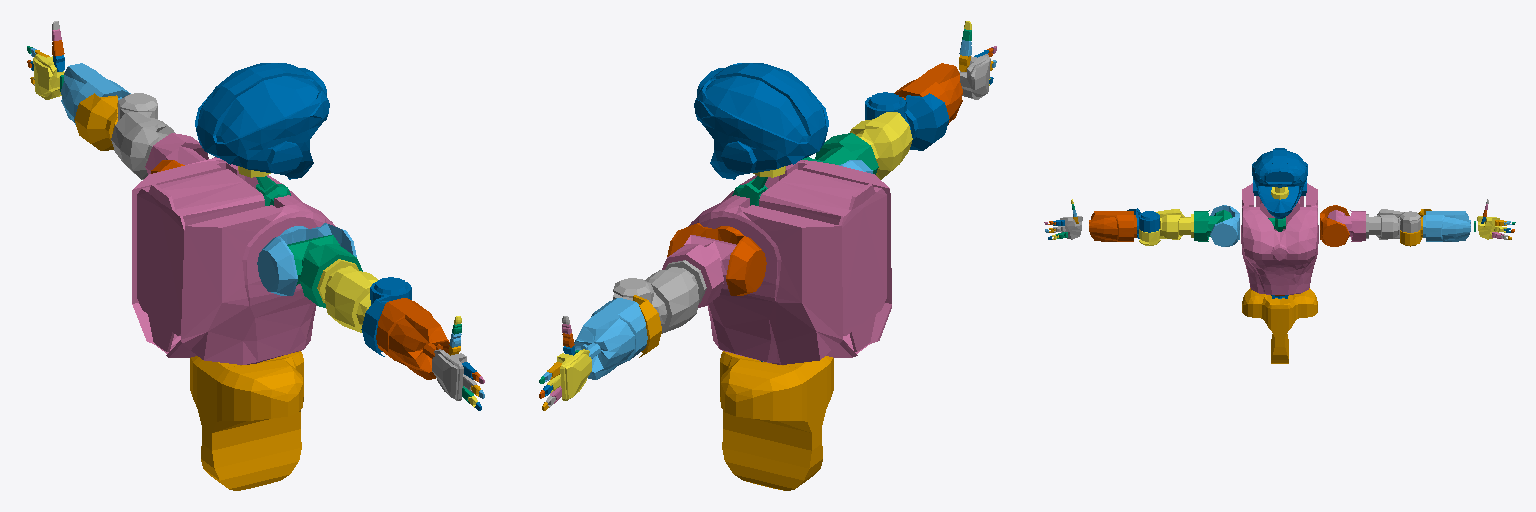
--- What the picture shows (computed from the rendered views, not written in the file) ---
The picture shows the robot from 3 angles, left to right: view 1: azimuth 30°, elevation 25°; view 2: azimuth 150°, elevation 25°; view 3: azimuth 270°, elevation 25°; orthographic projection.
Model valkyrie with 81 links and 80 joints (59 revolute, 21 fixed), rooted at pelvis, posed every joint at zero.
Links seen in each view (by area): view 1: torso, pelvis, upperNeckPitchLink, rightForearmLink, leftShoulderYawLink, rightShoulderYawLink, rightShoulderPitchLink, rightShoulderRollLink, leftElbowPitchLink, leftForearmLink, rightElbowPitchLink, leftShoulderRollLink (+3 smaller); view 2: torso, pelvis, upperNeckPitchLink, leftForearmLink, leftShoulderYawLink, leftShoulderPitchLink, rightElbowPitchLink, rightShoulderYawLink, leftShoulderRollLink, rightForearmLink, rightShoulderRollLink, leftPalm (+3 smaller); view 3: torso, upperNeckPitchLink, pelvis, leftForearmLink, rightForearmLink, leftShoulderYawLink, rightShoulderYawLink, rightShoulderPitchLink, leftShoulderPitchLink, rightShoulderRollLink, leftShoulderRollLink.
Link boxes in pixels (left/top/right/bottom): torso: left=132, top=160, right=335, bottom=364; pelvis: left=190, top=351, right=303, bottom=490; upperNeckPitchLink: left=195, top=63, right=329, bottom=179; rightForearmLink: left=376, top=298, right=449, bottom=379; leftShoulderYawLink: left=111, top=93, right=174, bottom=179; rightShoulderYawLink: left=317, top=259, right=377, bottom=332; rightShoulderPitchLink: left=257, top=223, right=356, bottom=295; rightShoulderRollLink: left=287, top=235, right=362, bottom=307; leftElbowPitchLink: left=74, top=93, right=117, bottom=150; leftForearmLink: left=61, top=63, right=130, bottom=124; rightElbowPitchLink: left=361, top=277, right=411, bottom=356; leftShoulderRollLink: left=145, top=133, right=221, bottom=174; torso: left=688, top=160, right=891, bottom=364; pelvis: left=720, top=351, right=833, bottom=490; upperNeckPitchLink: left=694, top=63, right=828, bottom=179; leftForearmLink: left=574, top=298, right=647, bottom=379; leftShoulderYawLink: left=613, top=260, right=706, bottom=333; leftShoulderPitchLink: left=667, top=223, right=766, bottom=295; rightElbowPitchLink: left=865, top=92, right=949, bottom=150; rightShoulderYawLink: left=850, top=112, right=912, bottom=179; leftShoulderRollLink: left=662, top=235, right=736, bottom=307; rightForearmLink: left=894, top=63, right=962, bottom=124; rightShoulderRollLink: left=802, top=133, right=878, bottom=174; leftPalm: left=557, top=349, right=591, bottom=400; torso: left=1241, top=183, right=1318, bottom=294; upperNeckPitchLink: left=1252, top=148, right=1307, bottom=218; pelvis: left=1242, top=288, right=1317, bottom=363; leftForearmLink: left=1423, top=211, right=1470, bottom=241; rightForearmLink: left=1089, top=211, right=1136, bottom=241; leftShoulderYawLink: left=1366, top=209, right=1420, bottom=239; rightShoulderYawLink: left=1139, top=209, right=1193, bottom=245; rightShoulderPitchLink: left=1210, top=205, right=1239, bottom=246; leftShoulderPitchLink: left=1320, top=205, right=1349, bottom=246; rightShoulderRollLink: left=1194, top=210, right=1232, bottom=241; leftShoulderRollLink: left=1327, top=210, right=1365, bottom=241.
Size in the robot's own frame: 0.4375 by 2.1 by 1.04 metres.
Meshes: 56 distinct files referenced, 47 mesh visuals loaded (47 Collada DAE); not drawn: 11 (reference not matched to a file when rendering).

robot.urdf — valkyrie:
<?xml version="1.0" ?>
<!-- =================================================================================== -->
<!-- |    This document was autogenerated by xacro from /kinematic_analysis/src/val_description/model/robots/valkyrie_B.urdf.xacro | -->
<!-- |    EDITING THIS FILE BY HAND IS NOT RECOMMENDED                                 | -->
<!-- =================================================================================== -->
<robot name="valkyrie">
  <!--roll-->
  <!-- Setting the property for the left and right forearm -->
  <!-- <xacro:property name="leftArmJ5SerialNumber" value="v_g_016" />
        <xacro:property name="leftForearmSerialNumber" value="v_h_005"/> -->
  <!-- <xacro:property name="rightArmJ5SerialNumber" value="v_g_012" />
        <xacro:property name="rightForearmSerialNumber" value="v_h_006"/> -->
  <link name="pelvis">
    <inertial>
      <mass value="8.22"/>
      <origin rpy="0 0 0" xyz="-0.00532 -0.003512 -0.0036"/>
      <inertia ixx="0.11866378" ixy="-0.000143482" ixz="0.003271293" iyy="0.097963425" iyz="0.002159545" izz="0.083854638"/>
    </inertial>
    <visual>
      <geometry>
        <mesh filename="package://val_description/model/meshes/pelvis/pelvis.dae"/>
      </geometry>
      <origin rpy="0.0 0.0 0.0" xyz="0.0 0.0 0.0"/>
    </visual>
    <collision>
      <geometry>
        <mesh filename="package://val_description/model/meshes/pelvis/pelvis.dae"/>
      </geometry>
      <origin rpy="0 0 0" xyz="0 0 0"/>
    </collision>
  </link>
  <link name="pelvisRearImu_Frame">
    <!-- Virtual Link -->
    <inertial>
      <mass value="1e-07"/>
      <origin rpy="0 0 0" xyz="0 0 0"/>
      <inertia ixx="3.3333333333333322e-22" ixy="0.0" ixz="0.0" iyy="3.3333333333333322e-22" iyz="0.0" izz="4.999999999999999e-22"/>
    </inertial>
  </link>
  <joint name="pelvisRearImu_Offset" type="fixed">
    <origin rpy="-3.14159 0.476467 -3.14159" xyz="-0.075844901 0.0 -0.111056426"/>
    <axis xyz="0 0 1"/>
    <parent link="pelvis"/>
    <child link="pelvisRearImu_Frame"/>
  </joint>
  <gazebo reference="pelvisRearImu_Offset">
    <implicitSpringDamper>1</implicitSpringDamper>
  </gazebo>
  <gazebo>
    <plugin filename="libgazebo_ros_imu.so" name="imu_plugin_ros">
      <alwaysOn>true</alwaysOn>
      <bodyName>pelvisRearImu_Frame</bodyName>
      <topicName>pelvisRearImu/imu</topicName>
      <serviceName>pelvisRearImu/imu_service</serviceName>
      <gaussianNoise>0.0</gaussianNoise>
      <updateRate>1000.0</updateRate>
    </plugin>
  </gazebo>
  <gazebo reference="pelvisRearImu_Frame">
    <sensor name="pelvisRearImu" type="imu">
      <imuTransform>-0.075844901 0.0 -0.111056426 -3.14159 0.476467 -3.14159</imuTransform>
      <always_on>true</always_on>
      <pose>0 0 0 0 0 0 </pose>
      <node name="/sensors/rearPelvisIMU"/>
      <api name="imu_3dm_gx4_15_sensor::Imu3DmGx415Sensor"/>
      <port name="/dev/ttyS4"/>
      <imu>
        <noise>
          <type>gaussian</type>
          <rate>
            <mean>0</mean>
            <stddev>0.0002</stddev>
            <bias_mean>7.5e-06</bias_mean>
            <bias_stddev>8e-07</bias_stddev>
          </rate>
          <accel>
            <mean>0</mean>
            <stddev>0.017</stddev>
            <bias_mean>0.1</bias_mean>
            <bias_stddev>0.001</bias_stddev>
          </accel>
        </noise>
      </imu>
    </sensor>
  </gazebo>
  <link name="pelvisMiddleImu_Frame">
    <!-- Virtual Link -->
    <inertial>
      <mass value="1e-07"/>
      <origin rpy="0 0 0" xyz="0 0 0"/>
      <inertia ixx="3.3333333333333322e-22" ixy="0.0" ixz="0.0" iyy="3.3333333333333322e-22" iyz="0.0" izz="4.999999999999999e-22"/>
    </inertial>
  </link>
  <joint name="pelvisMiddleImu_Offset" type="fixed">
    <origin rpy="3.14159 0.0 0.0" xyz="0.0 0.0 -0.10819638"/>
    <axis xyz="0 0 1"/>
    <parent link="pelvis"/>
    <child link="pelvisMiddleImu_Frame"/>
  </joint>
  <gazebo reference="pelvisMiddleImu_Offset">
    <implicitSpringDamper>1</implicitSpringDamper>
  </gazebo>
  <gazebo>
    <plugin filename="libgazebo_ros_imu.so" name="imu_plugin_ros">
      <alwaysOn>true</alwaysOn>
      <bodyName>pelvisMiddleImu_Frame</bodyName>
      <topicName>pelvisMiddleImu/imu</topicName>
      <serviceName>pelvisMiddleImu/imu_service</serviceName>
      <gaussianNoise>0.0</gaussianNoise>
      <updateRate>500.0</updateRate>
    </plugin>
  </gazebo>
  <gazebo reference="pelvisMiddleImu_Frame">
    <sensor name="pelvisMiddleImu" type="imu">
      <imuTransform>0.0 0.0 -0.10819638 3.14159 0.0 0.0</imuTransform>
      <always_on>true</always_on>
      <pose>0 0 0 0 0 0 </pose>
      <imu>
        <noise>
          <type>gaussian</type>
          <rate>
            <mean>0</mean>
            <stddev>0.0002</stddev>
            <bias_mean>7.5e-06</bias_mean>
            <bias_stddev>8e-07</bias_stddev>
          </rate>
          <accel>
            <mean>0</mean>
            <stddev>0.017</stddev>
            <bias_mean>0.1</bias_mean>
            <bias_stddev>0.001</bias_stddev>
          </accel>
        </noise>
      </imu>
    </sensor>
  </gazebo>
  <link name="zedm_mount">
    <!-- Virtual Link -->
    <inertial>
      <mass value="1e-07"/>
      <origin rpy="0 0 0" xyz="0 0 0"/>
      <inertia ixx="3.3333333333333322e-22" ixy="0.0" ixz="0.0" iyy="3.3333333333333322e-22" iyz="0.0" izz="4.999999999999999e-22"/>
    </inertial>
  </link>
  <joint name="zedm_head_root_joint" type="fixed">
    <origin rpy="0.0 0.1309 0.0" xyz="0.192184 0.0 -0.096498"/>
    <axis xyz="0 0 1"/>
    <parent link="upperNeckPitchLink"/>
    <child link="zedm_mount"/>
  </joint>
  <gazebo reference="zedm_head_root_joint">
    <implicitSpringDamper>1</implicitSpringDamper>
  </gazebo>
  <link name="torsoYawLink">
    <inertial>
      <mass value="0.5"/>
      <origin rpy="0 0 0" xyz="0.000000 0.000000 -0.010000"/>
      <inertia ixx="0.000608427" ixy="-1.172e-06" ixz="1.647e-06" iyy="0.000620328" iyz="-2.33e-07" izz="0.001078108"/>
    </inertial>
    <visual>
      <geometry>
        <mesh filename="package://val_description/model/meshes/torso/torsoyaw.dae"/>
      </geometry>
      <origin rpy="0.0 0.0 0.0" xyz="0.0 0.0 0.0"/>
    </visual>
    <collision>
      <geometry>
        <mesh filename="package://val_description/model/meshes/torso/torsoyaw.dae"/>
      </geometry>
      <origin rpy="0 0 0" xyz="0 0 0"/>
    </collision>
  </link>
  <link name="torsoPitchLink">
    <inertial>
      <mass value="0.1"/>
      <origin rpy="0 0 0" xyz="0.000000 0.000000  0.005000"/>
      <inertia ixx="3.032e-05" ixy="0.0" ixz="-1.145e-06" iyy="2.1274e-05" iyz="0.0" izz="2.8285e-05"/>
    </inertial>
    <visual>
      <geometry>
        <mesh filename="package://val_description/model/meshes/torso/torsopitch.dae"/>
      </geometry>
      <origin rpy="0.0 0.0 0.0" xyz="0.0 0.0 0.0"/>
    </visual>
    <collision>
      <geometry>
        <mesh filename="package://val_description/model/meshes/torso/torsopitch.dae"/>
      </geometry>
      <origin rpy="0 0 0" xyz="0 0 0"/>
    </collision>
  </link>
  <link name="torso">
    <inertial>
      <mass value="30.87"/>
      <origin rpy="0 0 0" xyz="-0.095548 -0.003337 0.243098"/>
      <inertia ixx="0.858969" ixy="9.9563e-05" ixz="0.061345211" iyy="0.99655" iyz="0.00181849" izz="0.764098"/>
    </inertial>
    <visual>
      <geometry>
        <mesh filename="package://val_description/model/meshes/torso/torso.dae"/>
      </geometry>
      <origin rpy="0.0 0.0 0.0" xyz="0.0 0.0 0.0"/>
    </visual>
    <collision>
      <geometry>
        <mesh filename="package://val_description/model/meshes/torso/torso.dae"/>
      </geometry>
      <origin rpy="0 0 0" xyz="0 0 0"/>
    </collision>
  </link>
  <joint name="torsoYaw" type="revolute">
    <origin rpy="0.0 0.0 0.0" xyz="0.0 0.0 0.0"/>
    <axis xyz="0 0 1"/>
    <parent link="pelvis"/>
    <child link="torsoYawLink"/>
    <limit effort="190" lower="-1.329" upper="1.181" velocity="5.89"/>
    <controller_gains Kd="0.0" Ki="0.0" Kp="0.0"/>
    <dynamics damping="0.1" friction="0.0"/>
  </joint>
  <gazebo reference="torsoYaw">
    <provideFeedback>1</provideFeedback>
    <implicitSpringDamper>1</implicitSpringDamper>
  </gazebo>
  <joint name="torsoPitch" type="revolute">
    <origin rpy="0.0 0.0 0.0" xyz="0.04191 0.0 0.0"/>
    <axis xyz="0 1 0"/>
    <parent link="torsoYawLink"/>
    <child link="torsoPitchLink"/>
    <limit effort="150" lower="-0.13" upper="0.666" velocity="9"/>
    <controller_gains Kd="0.0" Ki="0.0" Kp="0.0"/>
    <dynamics damping="0.1" friction="0.0"/>
  </joint>
  <gazebo reference="torsoPitch">
    <provideFeedback>1</provideFeedback>
    <implicitSpringDamper>1</implicitSpringDamper>
  </gazebo>
  <joint name="torsoRoll" type="revolute">
    <origin rpy="0.0 0.0 0.0" xyz="0.0 0.0 0.0203"/>
    <axis xyz="1 0 0"/>
    <parent link="torsoPitchLink"/>
    <child link="torso"/>
    <limit effort="150" lower="-0.23" upper="0.255" velocity="9"/>
    <controller_gains Kd="0.0" Ki="0.0" Kp="0.0"/>
    <dynamics damping="0.1" friction="0.0"/>
  </joint>
  <gazebo reference="torsoRoll">
    <provideFeedback>1</provideFeedback>
    <implicitSpringDamper>1</implicitSpringDamper>
  </gazebo>
  <transmission name="torsoYawTransmission">
    <type>transmission_interface/SimpleTransmission</type>
    <joint name="torsoYaw">
      <hardwareInterface>EffortJointInterface</hardwareInterface>
    </joint>
    <actuator name="torsoYaw">
      <node name="/pelvis/waist"/>
      <mechanicalReduction>1</mechanicalReduction>
      <api name="robot_hardware_interface/TurbodriverAPI"/>
    </actuator>
  </transmission>
  <transmission name="waistTransmission">
    <type>robot_transmission_interface::TorsoPushrodTransmissionLoader</type>
    <joint name="torsoPitch">
      <role>pitch</role>
      <hardwareInterface>EffortJointInterface</hardwareInterface>
    </joint>
    <joint name="torsoRoll">
      <role>roll</role>
      <hardwareInterface>EffortJointInterface</hardwareInterface>
    </joint>
    <actuator name="waistRightActuator">
      <node name="/trunk/right_actuator"/>
      <role>right</role>
      <mechanicalReduction>1</mechanicalReduction>
      <api name="robot_hardware_interface/TurbodriverAPI_linear_Renishaw"/>
    </actuator>
    <actuator name="waistLeftActuator">
      <node name="/trunk/left_actuator"/>
      <role>left</role>
      <mechanicalReduction>1</mechanicalReduction>
      <api name="robot_hardware_interface/TurbodriverAPI_linear_Renishaw"/>
    </actuator>
  </transmission>
  <link name="leftTorsoImu_Frame">
    <!-- Virtual Link -->
    <inertial>
      <mass value="1e-07"/>
      <origin rpy="0 0 0" xyz="0 0 0"/>
      <inertia ixx="3.3333333333333322e-22" ixy="0.0" ixz="0.0" iyy="3.3333333333333322e-22" iyz="0.0" izz="4.999999999999999e-22"/>
    </inertial>
  </link>
  <joint name="leftTorsoImu_Offset" type="fixed">
    <origin rpy="-1.5707 0.0 0.0" xyz="-0.0627634 0.134239 0.3630676"/>
    <axis xyz="0 0 1"/>
    <parent link="torso"/>
    <child link="leftTorsoImu_Frame"/>
  </joint>
  <gazebo reference="leftTorsoImu_Offset">
    <implicitSpringDamper>1</implicitSpringDamper>
  </gazebo>
  <gazebo>
    <plugin filename="libgazebo_ros_imu.so" name="imu_plugin_ros">
      <alwaysOn>true</alwaysOn>
      <bodyName>leftTorsoImu_Frame</bodyName>
      <topicName>leftTorsoImu/imu</topicName>
      <serviceName>leftTorsoImu/imu_service</serviceName>
      <gaussianNoise>0.0</gaussianNoise>
      <updateRate>1000.0</updateRate>
    </plugin>
  </gazebo>
  <gazebo reference="leftTorsoImu_Frame">
    <sensor name="leftTorsoImu" type="imu">
      <imuTransform>-0.0627634 0.134239 0.3630676 -1.5707 0.0 0.0</imuTransform>
      <always_on>true</always_on>
      <pose>0 0 0 0 0 0 </pose>
      <node name="/sensors/leftTorsoIMU"/>
      <api name="imu_3dm_gx4_15_sensor::Imu3DmGx415Sensor"/>
      <port name="/dev/ttyS5"/>
      <imu>
        <noise>
          <type>gaussian</type>
          <rate>
            <mean>0</mean>
            <stddev>0.0002</stddev>
            <bias_mean>7.5e-06</bias_mean>
            <bias_stddev>8e-07</bias_stddev>
          </rate>
          <accel>
            <mean>0</mean>
            <stddev>0.017</stddev>
            <bias_mean>0.1</bias_mean>
            <bias_stddev>0.001</bias_stddev>
          </accel>
        </noise>
      </imu>
    </sensor>
  </gazebo>
  <link name="rightHazardCamera_Frame">
    <!-- Virtual Link -->
    <inertial>
      <mass value="1e-07"/>
      <origin rpy="0 0 0" xyz="0 0 0"/>
      <inertia ixx="3.3333333333333322e-22" ixy="0.0" ixz="0.0" iyy="3.3333333333333322e-22" iyz="0.0" izz="4.999999999999999e-22"/>
    </inertial>
  </link>
  <gazebo reference="rightHazardCamera_Frame">
    <sensor name="rightHazardCamera" type="camera">
      <camera>
        <image>
          <width>1280</width>
          <height>1024</height>
          <format>R8G8B8</format>
        </image>
        <horizontal_fov>1.378</horizontal_fov>
        <clip>
          <near>0.1</near>
          <far>100</far>
        </clip>
      </camera>
      <update_rate>60</update_rate>
    </sensor>
  </gazebo>
  <joint name="rightHazardCamera_Offset" type="fixed">
    <origin rpy="1.57 0.0 1.57" xyz="0.0345 -0.0406 0.1135"/>
    <axis xyz="0 0 1"/>
    <parent link="torso"/>
    <child link="rightHazardCamera_Frame"/>
  </joint>
  <gazebo reference="rightHazardCamera_Offset">
    <implicitSpringDamper>1</implicitSpringDamper>
  </gazebo>
  <link name="leftHazardCamera_Frame">
    <!-- Virtual Link -->
    <inertial>
      <mass value="1e-07"/>
      <origin rpy="0 0 0" xyz="0 0 0"/>
      <inertia ixx="3.3333333333333322e-22" ixy="0.0" ixz="0.0" iyy="3.3333333333333322e-22" iyz="0.0" izz="4.999999999999999e-22"/>
    </inertial>
  </link>
  <gazebo reference="leftHazardCamera_Frame">
    <sensor name="leftHazardCamera" type="camera">
      <camera>
        <image>
          <width>1280</width>
          <height>1024</height>
          <format>R8G8B8</format>
        </image>
        <horizontal_fov>1.378</horizontal_fov>
        <clip>
          <near>0.1</near>
          <far>100</far>
        </clip>
      </camera>
      <update_rate>60</update_rate>
    </sensor>
  </gazebo>
  <joint name="leftHazardCamera_Offset" type="fixed">
    <origin rpy="1.57 0.0 1.57" xyz="0.0345 0.0406 0.1135"/>
    <axis xyz="0 0 1"/>
    <parent link="torso"/>
    <child link="leftHazardCamera_Frame"/>
  </joint>
  <gazebo reference="leftHazardCamera_Offset">
    <implicitSpringDamper>1</implicitSpringDamper>
  </gazebo>
  <link name="lowerNeckPitchLink">
    <inertial>
      <mass value="1.05"/>
      <origin rpy="0 0 0" xyz="-0.020000 0.000000  0.040000"/>
      <inertia ixx="0.001470716" ixy="-0.000126021" ixz="0.000632521" iyy="0.001851919" iyz="0.000243012" izz="0.000832117"/>
    </inertial>
    <visual>
      <geometry>
        <mesh filename="package://val_description/model/meshes/head/neckj1.dae"/>
      </geometry>
      <origin rpy="0.0 0.0 0.0" xyz="0.0 0.0 0.0"/>
    </visual>
    <collision>
      <geometry>
        <mesh filename="package://val_description/model/meshes/head/neckj1.dae"/>
      </geometry>
      <origin rpy="0 0 0" xyz="0 0 0"/>
    </collision>
  </link>
  <link name="neckYawLink">
    <inertial>
      <mass value="1.4"/>
      <origin rpy="0 0 0" xyz="-0.030000  -0.010000 0.150000"/>
      <inertia ixx="0.001997698" ixy="-0.000180062" ixz="0.000723677" iyy="0.002919928" iyz="0.000246467" izz="0.002119751"/>
    </inertial>
    <visual>
      <geometry>
        <mesh filename="package://val_description/model/meshes/head/neckj2.dae"/>
      </geometry>
      <origin rpy="0.0 0.0 0.0" xyz="0.0 0.0 0.0"/>
    </visual>
    <collision>
      <geometry>
        <mesh filename="package://val_description/model/meshes/head/neckj2.dae"/>
      </geometry>
      <origin rpy="0 0 0" xyz="0 0 0"/>
    </collision>
  </link>
  <link name="upperNeckPitchLink">
    <inertial>
      <mass value="3.89"/>
      <origin rpy="0 0 0" xyz="0.100912 0.005783 0.034787"/>
      <inertia ixx="0.039847525" ixy="-0.000470418" ixz="-0.002829842" iyy="0.041418564" iyz="-0.000782564" izz="0.036841236"/>
    </inertial>
    <visual>
      <geometry>
        <mesh filename="package://val_description/model/meshes/head/head_multisense_no_visor.dae"/>
      </geometry>
      <origin rpy="0.0 0.0 0.0" xyz="0.0 0.0 0.0"/>
    </visual>
    <collision>
      <geometry>
        <mesh filename="package://val_description/model/meshes/head/head_multisense_no_visor.dae"/>
      </geometry>
      <origin rpy="0 0 0" xyz="0 0 0"/>
    </collision>
  </link>
  <joint name="lowerNeckPitch" type="revolute">
    <origin rpy="0.0 0.0 0.0" xyz="0.0203518 0.0 0.33845"/>
    <axis xyz="0 1 0"/>
    <parent link="torso"/>
    <child link="lowerNeckPitchLink"/>
    <limit effort="26" lower="0" upper="1.162" velocity="5"/>
    <controller_gains Kd="3" Ki="3" Kp="50"/>
    <dynamics damping="0.1" friction="0.0"/>
  </joint>
  <gazebo reference="lowerNeckPitch">
    <provideFeedback>1</provideFeedback>
    <implicitSpringDamper>1</implicitSpringDamper>
  </gazebo>
  <joint name="neckYaw" type="revolute">
    <origin rpy="0.0 0.0 0.0" xyz="-0.051924 0.0 0.0"/>
    <axis xyz="0 0 1"/>
    <parent link="lowerNeckPitchLink"/>
    <child link="neckYawLink"/>
    <limit effort="26" lower="-1.04719755" upper="1.04719755" velocity="5"/>
    <controller_gains Kd="3" Ki="0.0" Kp="50"/>
    <dynamics damping="0.1" friction="0.0"/>
  </joint>
  <gazebo reference="neckYaw">
    <provideFeedback>1</provideFeedback>
    <implicitSpringDamper>1</implicitSpringDamper>
  </gazebo>
  <joint name="upperNeckPitch" type="revolute">
    <origin rpy="0.0 0.0 0.0" xyz="-0.06 0 0.195997"/>
    <axis xyz="0 1 0"/>
    <parent link="neckYawLink"/>
    <child link="upperNeckPitchLink"/>
    <limit effort="26" lower="-0.872" upper="0.0" velocity="5"/>
    <controller_gains Kd="3" Ki="0.0" Kp="50"/>
    <dynamics damping="0.1" friction="0.0"/>
  </joint>
  <gazebo reference="upperNeckPitch">
    <provideFeedback>1</provideFeedback>
    <implicitSpringDamper>1</implicitSpringDamper>
  </gazebo>
    <!-- Head Link Simple Collision Meshes -->
  <link name="multisense/head">
    <inertial>
      <origin xyz="-0.075493 3.3383E-05 0.02774" rpy="0 0 0" />
      <mass value="1.41984" />
      <inertia iyy="0.0041178" ixy="-1.5797E-06" iyz="-6.8415E-07" ixx="0.0039688" ixz="-0.00089293" izz="0.0035243" />
    </inertial>
<!--     <visual>
      <origin xyz="0 0 0" rpy="0 0 0" />
      <geometry>
        <mesh filename="package://val_description/model/meshes/multisense/head.dae" />
      </geometry>
    </visual> -->
  <collision>
    <origin xyz="-0.0503 0 -0.00195" rpy="0 0 0" />
    <geometry>
      <box size="0.1311 0.12 0.0591"/>
    </geometry>
  </collision>
  <collision>
    <origin xyz="-0.093 0 0.0868" rpy="0 0 0" />
    <geometry>
      <box size="0.0468 0.12 0.1184"/>
    </geometry>
  </collision>
  </link>
  <link name="hokuyo_link">
    <inertial>
      <origin xyz="0.032428 0.0004084 -0.0041835" rpy="0 0 0" />
      <mass value="0.057654" />
      <inertia iyy="4.2412E-05" ixy="4.9927E-08" iyz="-9.8165E-09" ixx="3.7174E-05" ixz="1.1015E-05" izz="4.167E-05" />
    </inertial>
    <visual>
      <!--origin xyz="0.065774 -0.001163 -0.08809" rpy="0 0 0" /-->
      <!--origin xyz="0.045 -0.001163 -0.08809" rpy="-0.314 0 0" /-->
      <origin xyz="0.045 -0.0261018277 -0.08342369" rpy="-0.314 0 0" />
      <geometry>
        <mesh filename="package://val_description/model/meshes/multisense/head_camera.dae" />
      </geometry>
    </visual>
  <collision>
    <origin xyz="0.01885 0 -0.02119" rpy="0 0 0" />
    <geometry>
      <box size="0.08 0.06 0.04238"/>
    </geometry>
  </collision>
  <collision>
    <origin xyz="0.03 0 0.0235" rpy="0 0 0" />
    <geometry>
      <cylinder radius="0.024425" length="0.047"/>
    </geometry>
  </collision>
  </link>
  <gazebo reference="multisense/head">
    <mu1>0.9</mu1>
    <mu2>0.9</mu2>
  </gazebo>
  <gazebo reference="hokuyo_link">
    <mu1>0.9</mu1>
    <mu2>0.9</mu2>
  </gazebo>

  <joint name="hokuyo_joint" type="revolute">
    <origin xyz="-0.0446 0 0.0880" rpy="0 0 0" />
    <parent link="multisense/head" />
    <child link="hokuyo_link" />
    <axis xyz="1 0 0" />
    <dynamics damping="0.01" friction="0"/>
    <limit lower="-1e+16" upper="1e+16"/>
  </joint>
  <gazebo reference="hokuyo_joint">
    <implicitSpringDamper>1</implicitSpringDamper>
  </gazebo>

  <!-- Hokuyo Laser -->
  <joint name="head_hokuyo_joint" type="fixed">
    <axis xyz="0 1 0" />
    <origin xyz="0.03 0 0.015" rpy="0 0 0"/>
    <parent link="hokuyo_link"/>
    <child link="head_hokuyo_frame"/>
  </joint>
  <link name="head_hokuyo_frame">
    <inertial>
      <mass value="1e-5" />
      <!-- collocate with parent link and remove mass from it -->
      <origin xyz="0.042428 0.0004084 0.0108165" rpy="0 0 0"/>
      <inertia ixx="1e-6" ixy="0" ixz="0" iyy="1e-6" iyz="0" izz="1e-6" />
    </inertial>
  </link>
  <gazebo reference="head_hokuyo_frame">
    <sensor type="gpu_ray" name="head_hokuyo_sensor">
      <pose>0 0 0 0 0 0</pose>
      <visualize>false</visualize>
      <update_rate>40</update_rate>
      <ray>
        <scan>
          <horizontal>
            <samples>1081</samples>
            <resolution>1</resolution>
            <min_angle>-2.356194</min_angle>
            <max_angle>2.356194</max_angle>
          </horizontal>
        </scan>
        <range>
          <min>0.10</min>
          <max>30.0</max>
          <resolution>0.01</resolution>
        </range>
        <noise>
          <type>gaussian</type>
          <!-- Noise parameters based on published spec for Hokuyo laser
               achieving "+-30mm" accuracy at range < 10m.  A mean of 0.0m and
               stddev of 0.01m will put 99.7% of samples within 0.03m of the true
               reading. -->
          <mean>0.0</mean>
          <stddev>0.01</stddev>
        </noise>
      </ray>
    </sensor>
  </gazebo>
  <!-- Stereo Camera -->
  <joint name="left_camera_frame_joint" type="fixed">
    <!-- optical frame collocated with tilting DOF -->
    <origin xyz="0.0 0.035 -0.002"/>
    <parent link="multisense/head"/>
    <child link="left_camera_frame"/>
  </joint>
  <link name="left_camera_frame">
    <inertial>
      <mass value="1e-5" />
      <!-- collocate with parent link and remove mass from it -->
      <origin xyz="-0.075493 0.035033383 0.02574"/>
      <inertia ixx="1e-6" ixy="0" ixz="0" iyy="1e-6" iyz="0" izz="1e-6" />
    </inertial>
  </link>
  <joint name="left_camera_optical_frame_joint" type="fixed">
    <origin xyz="0 0 0" rpy="-1.5708 0.0 -1.5708" />
    <parent link="left_camera_frame" />
    <child link="left_camera_optical_frame"/>
  </joint>
  <link name="left_camera_optical_frame"/>
  <gazebo reference="left_camera_frame">
    <sensor type="multicamera" name="stereo_camera">
      <!-- see MultiSenseSLPlugin.h for available modes -->
      <update_rate>10.0</update_rate>
      <camera name="left">
        <!-- Spec sheet says 80deg X 45deg @ 1024x544pix.  Based on feedback
             from teams, we're instead doing 80deg X 80deg @ 800x800pix. -->
        <horizontal_fov>1.3962634</horizontal_fov>
        <image>
          <width>1024</width>
          <height>544</height>
          <format>R8G8B8</format>
        </image>
        <clip>
          <near>0.02</near>
          <far>300</far>
        </clip>
        <noise>
          <type>gaussian</type>
          <!-- Noise is sampled independently per pixel on each frame.  
               That pixel's noise value is added to each of its color
               channels, which at that point lie in the range [0,1].
               The stddev value of 0.007 is based on experimental data 
               from a camera in a Sandia hand pointed at a static scene
               in a couple of different lighting conditions.  -->
          <mean>0.0</mean>
          <stddev>0.007</stddev>
        </noise>
      </camera>
      <camera name="right">
        <pose>0 -0.07 0 0 0 0</pose>
        <!-- Spec sheet says 80deg X 45deg @ 1024x544pix. -->
        <horizontal_fov>1.3962634</horizontal_fov>
        <image>
          <width>1024</width>
          <height>544</height>
          <format>R8G8B8</format>
        </image>
        <clip>
          <near>0.02</near>
          <far>300</far>
        </clip>
        <noise>
          <type>gaussian</type>
          <!-- Noise is sampled independently per pixel on each frame.  
               That pixel's noise value is added to each of its color
               channels, which at that point lie in the range [0,1].
               The stddev value of 0.007 is based on experimental data 
               from a camera in a Sandia hand pointed at a static scene
               in a couple of different lighting conditions.  -->
          <mean>0.0</mean>
          <stddev>0.007</stddev>
        </noise>
      </camera>
    </sensor>
  </gazebo>


  <joint name="right_camera_frame_joint" type="fixed">
    <origin xyz="0.0 -0.035 -0.002"/>
    <parent link="multisense/head"/>
    <child link="right_camera_frame"/>
  </joint>
  <link name="right_camera_frame">
    <inertial>
      <mass value="1e-5" />
      <!-- collocate with parent link and remove mass from it -->
      <origin xyz="-0.075493 -0.034966617 0.02574"/>
      <inertia ixx="1e-6" ixy="0" ixz="0" iyy="1e-6" iyz="0" izz="1e-6" />
    </inertial>
  </link>
  <joint name="right_camera_optical_frame_joint" type="fixed">
    <origin xyz="0 0 0" rpy="-1.5708 0.0 -1.5708" />
    <parent link="right_camera_frame" />
    <child link="right_camera_optical_frame"/>
  </joint>
  <link name="right_camera_optical_frame"/>

  <joint name="center_top_led_frame_joint" type="fixed">
    <origin xyz="0.01125 0.0 0.0105"/>
    <parent link="multisense/head"/>
    <child link="center_top_led_frame"/>
  </joint>
  <link name="center_top_led_frame">
    <inertial>
      <mass value="1e-5" />
      <!-- collocate with parent link and remove mass from it -->
      <origin xyz="-0.064243 0.000033383 0.03824" rpy="0 0 0" />
      <inertia ixx="1e-6" ixy="0" ixz="0" iyy="1e-6" iyz="0" izz="1e-6" />
    </inertial>
  </link>
  <joint name="center_bottom_led_frame_joint" type="fixed">
    <origin xyz="0.01125 0.0 -0.0155"/>
    <parent link="multisense/head"/>
    <child link="center_bottom_led_frame"/>
  </joint>
  <link name="center_bottom_led_frame">
    <inertial>
      <mass value="1e-5" />
      <!-- collocate with parent link and remove mass from it -->
      <origin xyz="-0.064243 0.000033383 0.01224" rpy="0 0 0" />
      <inertia ixx="1e-6" ixy="0" ixz="0" iyy="1e-6" iyz="0" izz="1e-6" />
    </inertial>
  </link>
  <joint name="left_led_frame_joint" type="fixed">
    <origin xyz="-0.01443 0.07452 0.050346" rpy="0 -0.15 0.53"/>
    <parent link="multisense/head"/>
    <child link="left_led_frame"/>
  </joint>
  <link name="left_led_frame">
    <inertial>
      <mass value="1e-5" />
      <!-- collocate with parent link and remove mass from it -->
      <origin xyz="-0.089923 0.074553383 0.078086" rpy="0 -0.15 0.53" />
      <inertia ixx="1e-6" ixy="0" ixz="0" iyy="1e-6" iyz="0" izz="1e-6" />
    </inertial>
  </link>
  <joint name="right_led_frame_joint" type="fixed">
    <origin xyz="-0.01443 -0.07452 0.050346" rpy="0 -0.15 -0.53"/>
    <parent link="multisense/head"/>
    <child link="right_led_frame"/>
  </joint>
  <link name="right_led_frame">
    <inertial>
      <mass value="1e-5" />
      <!-- collocate with parent link and remove mass from it -->
      <origin xyz="-0.089923 -0.074486617 0.07908" rpy="0 -0.15 -0.53" />
      <inertia ixx="1e-6" ixy="0" ixz="0" iyy="1e-6" iyz="0" izz="1e-6" />
    </inertial>
  </link>

  <!-- imu link -->
  <link name="head_imu_link">
    <inertial>
      <mass value="1e-5" />
      <!-- collocate with parent link and remove mass from it -->
      <origin xyz="-0.122993 0.035033383 0.02774" rpy="0 0 0" />
      <inertia ixx="1e-6" ixy="0" ixz="0" iyy="1e-6" iyz="0" izz="1e-6" />
    </inertial>
  </link>
  <joint name="head_imu_joint" type="fixed">
    <parent link="multisense/head"/>
    <child link="head_imu_link"/>
    <!-- putting it at the same z-level as the stereo -->
    <origin xyz="-0.0475 0.035 0.0" rpy="0 0 0"/>
  </joint>
  <gazebo reference="head_imu_link">
    <sensor name="head_imu_sensor" type="imu">
      <always_on>1</always_on>
      <update_rate>1000.0</update_rate>
      <imu>
        <noise>
          <type>gaussian</type>
          <rate>
            <mean>0.0</mean>
            <stddev>2e-4</stddev>
            <bias_mean>0.0000075</bias_mean>
            <bias_stddev>0.0000008</bias_stddev>
          </rate>
          <accel>
            <mean>0.0</mean>
            <stddev>1.7e-2</stddev>
            <bias_mean>0.1</bias_mean>
            <bias_stddev>0.001</bias_stddev>
          </accel>
        </noise>
      </imu>
    </sensor>
  </gazebo>
  <joint name="multisense_head_root_joint" type="fixed">
    <origin rpy="-3.14159 0.130899694 0.0" xyz="0.183585961 0.0 0.075353826"/>
    <axis xyz="0 0 1"/>
    <parent link="upperNeckPitchLink"/>
    <child link="multisense/head"/>
  </joint>
  <gazebo reference="multisense_head_root_joint">
    <implicitSpringDamper>1</implicitSpringDamper>
  </gazebo>
  <transmission name="lowerNeckPitchTransmission">
    <type>transmission_interface/SimpleTransmission</type>
    <joint name="lowerNeckPitch">
      <hardwareInterface>PositionJointInterface</hardwareInterface>
    </joint>
    <actuator name="lowerNeckPitch">
      <node name="/neck/j1"/>
      <mechanicalReduction>1</mechanicalReduction>
      <api name="robot_hardware_interface/TurbodriverAPI"/>
    </actuator>
  </transmission>
  <transmission name="neckYawTransmission">
    <type>transmission_interface/SimpleTransmission</type>
    <joint name="neckYaw">
      <hardwareInterface>PositionJointInterface</hardwareInterface>
    </joint>
    <actuator name="neckYaw">
      <node name="/neck/j2"/>
      <mechanicalReduction>1</mechanicalReduction>
      <api name="robot_hardware_interface/TurbodriverAPI"/>
    </actuator>
  </transmission>
  <transmission name="upperNeckPitchTransmission">
    <type>transmission_interface/SimpleTransmission</type>
    <joint name="upperNeckPitch">
      <hardwareInterface>PositionJointInterface</hardwareInterface>
    </joint>
    <actuator name="upperNeckPitch">
      <node name="/neck/j3"/>
      <mechanicalReduction>1</mechanicalReduction>
      <api name="robot_hardware_interface/TurbodriverAPI"/>
    </actuator>
  </transmission>
  <link name="rightHipYawLink">
    <inertial>
      <mass value="2.39"/>
      <origin rpy="0 0 0" xyz="0.02176 0.00131 0.03867"/>
      <inertia ixx="0.017260978" ixy="0.0" ixz="0.0" iyy="0.014866198" iyz="0.0" izz="0.011238178"/>
    </inertial>
    <visual>
      <geometry>
        <mesh filename="package://val_description/model/meshes/legs/lj1_right.dae"/>
      </geometry>
      <origin rpy="0.0 0.0 0.0" xyz="0.0 0.0 0.0"/>
    </visual>
    <collision>
      <geometry>
        <mesh filename="package://val_description/model/meshes/legs/lj1_right.dae"/>
      </geometry>
      <origin rpy="0 0 0" xyz="0 0 0"/>
    </collision>
  </link>
  <link name="rightHipRollLink">
    <inertial>
      <mass value="3.665"/>
      <origin rpy="0 0 0" xyz="0.012959 -0.00755 -0.015950"/>
      <inertia ixx="0.005978962" ixy="0.000234823" ixz="0.000553962" iyy="0.009372646" iyz="-0.000778956" izz="0.008193117"/>
    </inertial>
  </link>
  <link name="rightHipPitchLink">
    <inertial>
      <mass value="10.2"/>
      <origin rpy="0 0 0" xyz="0.016691 -0.091397 -0.207875"/>
      <inertia ixx="0.24083413" ixy="-3.5915e-05" ixz="0.003699383" iyy="0.25689705" iyz="0.001333005" izz="0.023276352"/>
    </inertial>
    <visual>
      <geometry>
        <mesh filename="package://val_description/model/meshes/legs/lj3_right.dae"/>
      </geometry>
      <origin rpy="0.0 0.0 0.0" xyz="0.0 0.0 0.0"/>
    </visual>
    <collision>
      <geometry>
        <mesh filename="package://val_description/model/meshes/legs/lj3_right.dae"/>
      </geometry>
      <origin rpy="0 0 0" xyz="0 0 0"/>
    </collision>
  </link>
  <link name="rightKneePitchLink">
    <inertial>
      <mass value="6.2"/>
      <origin rpy="0 0 0" xyz="-0.022183  0.001703  -0.189418"/>
      <inertia ixx="0.086935683" ixy="9.929e-05" ixz="0.000573207" iyy="0.091584066" iyz="0.000313745" izz="0.014017272"/>
    </inertial>
    <visual>
      <geometry>
        <mesh filename="package://val_description/model/meshes/legs/lj4_right.dae"/>
      </geometry>
      <origin rpy="0.0 0.0 0.0" xyz="0.0 0.0 0.0"/>
    </visual>
    <collision>
      <geometry>
        <mesh filename="package://val_description/model/meshes/legs/lj4_right.dae"/>
      </geometry>
      <origin rpy="0 0 0" xyz="0 0 0"/>
    </collision>
  </link>
  <link name="rightAnklePitchLink">
    <inertial>
      <mass value="0.03"/>
      <origin rpy="0 0 0" xyz="0.0 0.0 0.0"/>
      <inertia ixx="4.377e-06" ixy="0.0" ixz="0.0" iyy="4.322e-06" iyz="0.0" izz="7.015e-06"/>
    </inertial>
    <visual>
      <geometry>
        <mesh filename="package://val_description/model/meshes/legs/lj5.dae"/>
      </geometry>
      <origin rpy="0.0 0.0 0.0" xyz="0.0 0.0 0.0"/>
    </visual>
    <collision>
      <geometry>
        <mesh filename="package://val_description/model/meshes/legs/lj5.dae"/>
      </geometry>
      <origin rpy="0 0 0" xyz="0 0 0"/>
    </collision>
  </link>
  <link name="rightFoot">
    <inertial>
      <mass value="2.27"/>
      <origin rpy="0 0 0" xyz="0.037702  0.005161  -0.047634"/>
      <inertia ixx="0.00623936" ixy="0.000217174" ixz="0.001340587" iyy="0.017786991" iyz="-0.000187749" izz="0.020774433"/>
    </inertial>
    <visual>
      <geometry>
        <mesh filename="package://val_description/model/meshes/legs/foot.dae"/>
      </geometry>
      <origin rpy="0 0 0" xyz="0 0 0"/>
    </visual>
    <collision>
      <geometry>
        <box size="0.27 0.16 0.064"/>
      </geometry>
      <origin rpy="0.0 0.0 0.0" xyz="0.045 0.0 -0.056"/>
    </collision>
  </link>
  <!-- foot contact parameters copied from atlas_description in drcsim -->
  <gazebo reference="rightFoot">
    <!-- kp and kd for rubber -->
    <kp>1000000.0</kp>
    <kd>100.0</kd>
    <mu1>1.5</mu1>
    <mu2>1.5</mu2>
    <fdir1>1 0 0</fdir1>
    <maxVel>1.0</maxVel>
    <minDepth>0.00</minDepth>
  </gazebo>
  <joint name="rightHipYaw" type="revolute">
    <origin rpy="0.0 0.0 0.0" xyz="0.0 -0.1016 -0.1853"/>
    <axis xyz="0 0 1"/>
    <parent link="pelvis"/>
    <child link="rightHipYawLink"/>
    <limit effort="190" lower="-1.10" upper="0.4141" velocity="5.89"/>
    <controller_gains Kd="0.0" Ki="0.0" Kp="0.0"/>
    <dynamics damping="0.1" friction="0.0"/>
  </joint>
  <gazebo reference="rightHipYaw">
    <provideFeedback>1</provideFeedback>
    <implicitSpringDamper>1</implicitSpringDamper>
  </gazebo>
  <joint name="rightHipRoll" type="revolute">
    <origin rpy="0.0 0.0 0.0" xyz="0.0 0.0 0.0"/>
    <axis xyz="1 0 0"/>
    <parent link="rightHipYawLink"/>
    <child link="rightHipRollLink"/>
    <limit effort="350" lower="-0.5515" upper="0.467" velocity="7"/>
    <controller_gains Kd="0.0" Ki="0.0" Kp="0.0"/>
    <dynamics damping="0.1" friction="0.0"/>
  </joint>
  <gazebo reference="rightHipRoll">
    <provideFeedback>1</provideFeedback>
    <implicitSpringDamper>1</implicitSpringDamper>
  </gazebo>
  <joint name="rightHipPitch" type="revolute">
    <origin rpy="0.0 0.0 0.0" xyz="0.0 0.0 -0.0609"/>
    <axis xyz="0 1 0"/>
    <parent link="rightHipRollLink"/>
    <child link="rightHipPitchLink"/>
    <limit effort="350" lower="-2.42" upper="1.619" velocity="6.11"/>
    <controller_gains Kd="0.0" Ki="0.0" Kp="0.0"/>
    <dynamics damping="0.1" friction="0.0"/>
  </joint>
  <gazebo reference="rightHipPitch">
    <provideFeedback>1</provideFeedback>
    <implicitSpringDamper>1</implicitSpringDamper>
  </gazebo>
  <joint name="rightKneePitch" type="revolute">
    <origin rpy="0.0 0.0 0.0" xyz="0.000112225 -0.0361046 -0.430959"/>
    <axis xyz="0 1 0"/>
    <parent link="rightHipPitchLink"/>
    <child link="rightKneePitchLink"/>
    <limit effort="350" lower="-0.083" upper="2.057" velocity="6.11"/>
    <controller_gains Kd="0.0" Ki="0.0" Kp="0.0"/>
    <dynamics damping="0.1" friction="0.0"/>
  </joint>
  <gazebo reference="rightKneePitch">
    <provideFeedback>1</provideFeedback>
    <implicitSpringDamper>1</implicitSpringDamper>
  </gazebo>
  <joint name="rightAnklePitch" type="revolute">
    <origin rpy="0.0 0.0 0.0" xyz="-0.0102381 0.0 -0.40627"/>
    <axis xyz="0 1 0"/>
    <parent link="rightKneePitchLink"/>
    <child link="rightAnklePitchLink"/>
    <limit effort="205" lower="-0.8644" upper="0.875" velocity="11"/>
    <controller_gains Kd="0.0" Ki="0.0" Kp="0.0"/>
    <dynamics damping="0.1" friction="0.0"/>
  </joint>
  <gazebo reference="rightAnklePitch">
    <provideFeedback>1</provideFeedback>
    <implicitSpringDamper>1</implicitSpringDamper>
  </gazebo>
  <joint name="rightAnkleRoll" type="revolute">
    <origin rpy="0.0 0.0 0.0" xyz="0.0101259 0.0 0.0"/>
    <axis xyz="1 0 0"/>
    <parent link="rightAnklePitchLink"/>
    <child link="rightFoot"/>
    <limit effort="205" lower="-0.349" upper="0.348" velocity="11"/>
    <controller_gains Kd="0.0" Ki="0.0" Kp="0.0"/>
    <dynamics damping="0.3" friction="0.0"/>
  </joint>
  <gazebo reference="rightAnkleRoll">
    <provideFeedback>1</provideFeedback>
    <implicitSpringDamper>1</implicitSpringDamper>
  </gazebo>
  <link name="rightCOP_Frame">
    <inertial>
      <mass value="0.1"/>
      <origin rpy="0 0 0" xyz="0 0 0"/>
      <inertia ixx="8.333333333333336e-05" ixy="0.0" ixz="0.0" iyy="8.333333333333336e-05" iyz="0.0" izz="0.00012500000000000003"/>
    </inertial>
  </link>
  <joint name="rightCOP_Offset" type="fixed">
    <origin rpy="0.0 0.0 0.0" xyz="0.0189 0.0 -0.0783"/>
    <axis xyz="0 0 1"/>
    <parent link="rightFoot"/>
    <child link="rightCOP_Frame"/>
  </joint>
  <gazebo reference="rightCOP_Offset">
    <implicitSpringDamper>1</implicitSpringDamper>
  </gazebo>
  <link name="rightFootSixAxis_Frame">
    <!-- Virtual Link -->
    <inertial>
      <mass value="1e-07"/>
      <origin rpy="0 0 0" xyz="0 0 0"/>
      <inertia ixx="3.3333333333333322e-22" ixy="0.0" ixz="0.0" iyy="3.3333333333333322e-22" iyz="0.0" izz="4.999999999999999e-22"/>
    </inertial>
  </link>
  <joint name="rightFootSixAxis_Offset" type="fixed">
    <origin rpy="3.14 0.0 0.0" xyz="0.0215646 0.0 -0.051054"/>
    <axis xyz="0 0 1"/>
    <parent link="rightFoot"/>
    <child link="rightFootSixAxis_Frame"/>
  </joint>
  <gazebo reference="rightFootSixAxis_Offset">
    <implicitSpringDamper>1</implicitSpringDamper>
  </gazebo>
  <gazebo reference="rightAnkleRoll">
    <sensor name="rightFootSixAxis" type="force_torque">
      <pose>0.0215646 0.0 -0.051054 3.14 0.0 0.0</pose>
      <sensor_number id="FT16592"/>
      <node id="/right_leg/ankle/left_actuator"/>
      <api name="ati_sensor_interface::ATISensorInterface"/>
      <always_on>true</always_on>
      <update_rate>500.0</update_rate>
      <force_torque>
        <frame>sensor</frame>
        <measure_direction>parent_to_child</measure_direction>
      </force_torque>
    </sensor>
  </gazebo>
  <transmission name="rightHipYawTransmission">
    <type>transmission_interface/SimpleTransmission</type>
    <joint name="rightHipYaw">
      <hardwareInterface>EffortJointInterface</hardwareInterface>
    </joint>
    <actuator name="rightHipYaw">
      <node name="/pelvis/right_leg_j1"/>
      <mechanicalReduction>1</mechanicalReduction>
      <api name="robot_hardware_interface/TurbodriverAPI"/>
    </actuator>
  </transmission>
  <transmission name="rightHipRollTransmission">
    <type>transmission_interface/SimpleTransmission</type>
    <joint name="rightHipRoll">
      <hardwareInterface>EffortJointInterface</hardwareInterface>
    </joint>
    <actuator name="rightHipRoll">
      <node name="/right_leg/j2"/>
      <mechanicalReduction>1</mechanicalReduction>
      <api name="robot_hardware_interface/TurbodriverAPI"/>
    </actuator>
  </transmission>
  <transmission name="rightHipPitchTransmission">
    <type>transmission_interface/SimpleTransmission</type>
    <joint name="rightHipPitch">
      <hardwareInterface>EffortJointInterface</hardwareInterface>
    </joint>
    <actuator name="rightHipPitch">
      <node name="/right_leg/j3"/>
      <mechanicalReduction>1</mechanicalReduction>
      <api name="robot_hardware_interface/TurbodriverAPI"/>
    </actuator>
  </transmission>
  <transmission name="rightKneePitchTransmission">
    <type>transmission_interface/SimpleTransmission</type>
    <joint name="rightKneePitch">
      <hardwareInterface>EffortJointInterface</hardwareInterface>
    </joint>
    <actuator name="rightKneePitch">
      <node name="/right_leg/j4"/>
      <mechanicalReduction>1</mechanicalReduction>
      <api name="robot_hardware_interface/TurbodriverAPI"/>
    </actuator>
  </transmission>
  <transmission name="rightAnkleTransmission">
    <type>robot_transmission_interface::AnklePushrodTransmissionLoader</type>
    <joint name="rightAnklePitch">
      <role>pitch</role>
      <hardwareInterface>EffortJointInterface</hardwareInterface>
    </joint>
    <joint name="rightAnkleRoll">
      <role>roll</role>
      <hardwareInterface>EffortJointInterface</hardwareInterface>
    </joint>
    <actuator name="rightAnkleRightActuator">
      <node name="/right_leg/ankle/right_actuator"/>
      <role>right</role>
      <mechanicalReduction>1</mechanicalReduction>
      <api name="robot_hardware_interface/TurbodriverAPI_linear_futek"/>
    </actuator>
    <actuator name="rightAnkleLeftActuator">
      <node name="/right_leg/ankle/left_actuator"/>
      <role>left</role>
      <mechanicalReduction>1</mechanicalReduction>
      <api name="robot_hardware_interface/TurbodriverAPI_linear_futek"/>
    </actuator>
  </transmission>
  <link name="leftHipYawLink">
    <inertial>
      <mass value="2.39"/>
      <origin rpy="0 0 0" xyz="0.02176 -0.00131 0.03867"/>
      <inertia ixx="0.017260978" ixy="0.0" ixz="0.0" iyy="0.014866198" iyz="0.0" izz="0.011238178"/>
    </inertial>
    <visual>
      <geometry>
        <mesh filename="package://val_description/model/meshes/legs/lj1_left.dae"/>
      </geometry>
      <origin rpy="0.0 0.0 0.0" xyz="0.0 0.0 0.0"/>
    </visual>
    <collision>
      <geometry>
        <mesh filename="package://val_description/model/meshes/legs/lj1_left.dae"/>
      </geometry>
      <origin rpy="0 0 0" xyz="0 0 0"/>
    </collision>
  </link>
  <link name="leftHipRollLink">
    <inertial>
      <mass value="3.665"/>
      <origin rpy="0 0 0" xyz="0.012959 0.00755 -0.015950"/>
      <inertia ixx="0.005978962" ixy="-0.000234823" ixz="0.000553962" iyy="0.009372646" iyz="0.000778956" izz="0.008193117"/>
    </inertial>
  </link>
  <link name="leftHipPitchLink">
    <inertial>
      <mass value="10.2"/>
      <origin rpy="0 0 0" xyz="0.016691 0.091397 -0.207875"/>
      <inertia ixx="0.24083413" ixy="3.5915e-05" ixz="0.003699383" iyy="0.25689705" iyz="-0.001333005" izz="0.023276352"/>
    </inertial>
    <visual>
      <geometry>
        <mesh filename="package://val_description/model/meshes/legs/lj3_left.dae"/>
      </geometry>
      <origin rpy="0.0 0.0 0.0" xyz="0.0 0.0 0.0"/>
    </visual>
    <collision>
      <geometry>
        <mesh filename="package://val_description/model/meshes/legs/lj3_left.dae"/>
      </geometry>
      <origin rpy="0 0 0" xyz="0 0 0"/>
    </collision>
  </link>
  <link name="leftKneePitchLink">
    <inertial>
      <mass value="6.2"/>
      <origin rpy="0 0 0" xyz="-0.022183  0.001703  -0.189418"/>
      <inertia ixx="0.086935683" ixy="9.929e-05" ixz="0.000573207" iyy="0.091584066" iyz="0.000313745" izz="0.014017272"/>
    </inertial>
    <visual>
      <geometry>
        <mesh filename="package://val_description/model/meshes/legs/lj4_left.dae"/>
      </geometry>
      <origin rpy="0.0 0.0 0.0" xyz="0.0 0.0 0.0"/>
    </visual>
    <collision>
      <geometry>
        <mesh filename="package://val_description/model/meshes/legs/lj4_left.dae"/>
      </geometry>
      <origin rpy="0 0 0" xyz="0 0 0"/>
    </collision>
  </link>
  <link name="leftAnklePitchLink">
    <inertial>
      <mass value="0.03"/>
      <origin rpy="0 0 0" xyz="0.0 0.0 0.0"/>
      <inertia ixx="4.377e-06" ixy="0.0" ixz="0.0" iyy="4.322e-06" iyz="0.0" izz="7.015e-06"/>
    </inertial>
    <visual>
      <geometry>
        <mesh filename="package://val_description/model/meshes/legs/lj5.dae"/>
      </geometry>
      <origin rpy="0.0 0.0 0.0" xyz="0.0 0.0 0.0"/>
    </visual>
    <collision>
      <geometry>
        <mesh filename="package://val_description/model/meshes/legs/lj5.dae"/>
      </geometry>
      <origin rpy="0 0 0" xyz="0 0 0"/>
    </collision>
  </link>
  <link name="leftFoot">
    <inertial>
      <mass value="2.27"/>
      <origin rpy="0 0 0" xyz="0.037702  0.005161  -0.047634"/>
      <inertia ixx="0.00623936" ixy="0.000217174" ixz="0.001340587" iyy="0.017786991" iyz="-0.000187749" izz="0.020774433"/>
    </inertial>
    <visual>
      <geometry>
        <mesh filename="package://val_description/model/meshes/legs/foot.dae"/>
      </geometry>
      <origin rpy="0 0 0" xyz="0 0 0"/>
    </visual>
    <collision>
      <geometry>
        <box size="0.27 0.16 0.064"/>
      </geometry>
      <origin rpy="0.0 0.0 0.0" xyz="0.045 0.0 -0.056"/>
    </collision>
  </link>
  <!-- foot contact parameters copied from atlas_description in drcsim -->
  <gazebo reference="leftFoot">
    <!-- kp and kd for rubber -->
    <kp>1000000.0</kp>
    <kd>100.0</kd>
    <mu1>1.5</mu1>
    <mu2>1.5</mu2>
    <fdir1>1 0 0</fdir1>
    <maxVel>1.0</maxVel>
    <minDepth>0.00</minDepth>
  </gazebo>
  <joint name="leftHipYaw" type="revolute">
    <origin rpy="0.0 0.0 0.0" xyz="0.0 0.1016 -0.1853"/>
    <axis xyz="0 0 1"/>
    <parent link="pelvis"/>
    <child link="leftHipYawLink"/>
    <limit effort="190" lower="-0.4141" upper="1.10" velocity="5.89"/>
    <controller_gains Kd="0.0" Ki="0.0" Kp="0.0"/>
    <dynamics damping="0.1" friction="0.0"/>
  </joint>
  <gazebo reference="leftHipYaw">
    <provideFeedback>1</provideFeedback>
    <implicitSpringDamper>1</implicitSpringDamper>
  </gazebo>
  <joint name="leftHipRoll" type="revolute">
    <origin rpy="0.0 0.0 0.0" xyz="0.0 0.0 0.0"/>
    <axis xyz="1 0 0"/>
    <parent link="leftHipYawLink"/>
    <child link="leftHipRollLink"/>
    <limit effort="350" lower="-0.467" upper="0.5515" velocity="7"/>
    <controller_gains Kd="0.0" Ki="0.0" Kp="0.0"/>
    <dynamics damping="0.1" friction="0.0"/>
  </joint>
  <gazebo reference="leftHipRoll">
    <provideFeedback>1</provideFeedback>
    <implicitSpringDamper>1</implicitSpringDamper>
  </gazebo>
  <joint name="leftHipPitch" type="revolute">
    <origin rpy="0.0 0.0 0.0" xyz="0.0 0.0 -0.0609"/>
    <axis xyz="0 1 0"/>
    <parent link="leftHipRollLink"/>
    <child link="leftHipPitchLink"/>
    <limit effort="350" lower="-2.42" upper="1.619" velocity="6.11"/>
    <controller_gains Kd="0.0" Ki="0.0" Kp="0.0"/>
    <dynamics damping="0.1" friction="0.0"/>
  </joint>
  <gazebo reference="leftHipPitch">
    <provideFeedback>1</provideFeedback>
    <implicitSpringDamper>1</implicitSpringDamper>
  </gazebo>
  <joint name="leftKneePitch" type="revolute">
    <origin rpy="0.0 0.0 0.0" xyz="0.000112225 0.0361046 -0.430959"/>
    <axis xyz="0 1 0"/>
    <parent link="leftHipPitchLink"/>
    <child link="leftKneePitchLink"/>
    <limit effort="350" lower="-0.083" upper="2.057" velocity="6.11"/>
    <controller_gains Kd="0.0" Ki="0.0" Kp="0.0"/>
    <dynamics damping="0.1" friction="0.0"/>
  </joint>
  <gazebo reference="leftKneePitch">
    <provideFeedback>1</provideFeedback>
    <implicitSpringDamper>1</implicitSpringDamper>
  </gazebo>
  <joint name="leftAnklePitch" type="revolute">
    <origin rpy="0.0 0.0 0.0" xyz="-0.0102381 0.0 -0.40627"/>
    <axis xyz="0 1 0"/>
    <parent link="leftKneePitchLink"/>
    <child link="leftAnklePitchLink"/>
    <limit effort="205" lower="-0.8644" upper="0.875" velocity="11"/>
    <controller_gains Kd="0.0" Ki="0.0" Kp="0.0"/>
    <dynamics damping="0.1" friction="0.0"/>
  </joint>
  <gazebo reference="leftAnklePitch">
    <provideFeedback>1</provideFeedback>
    <implicitSpringDamper>1</implicitSpringDamper>
  </gazebo>
  <joint name="leftAnkleRoll" type="revolute">
    <origin rpy="0.0 0.0 0.0" xyz="0.0101259 0.0 0.0"/>
    <axis xyz="1 0 0"/>
    <parent link="leftAnklePitchLink"/>
    <child link="leftFoot"/>
    <limit effort="205" lower="-0.349" upper="0.348" velocity="11"/>
    <controller_gains Kd="0.0" Ki="0.0" Kp="0.0"/>
    <dynamics damping="0.3" friction="0.0"/>
  </joint>
  <gazebo reference="leftAnkleRoll">
    <provideFeedback>1</provideFeedback>
    <implicitSpringDamper>1</implicitSpringDamper>
  </gazebo>
  <link name="leftCOP_Frame">
    <inertial>
      <mass value="0.1"/>
      <origin rpy="0 0 0" xyz="0 0 0"/>
      <inertia ixx="8.333333333333336e-05" ixy="0.0" ixz="0.0" iyy="8.333333333333336e-05" iyz="0.0" izz="0.00012500000000000003"/>
    </inertial>
  </link>
  <joint name="leftCOP_Offset" type="fixed">
    <origin rpy="0.0 0.0 0.0" xyz="0.0189 0.0 -0.0783"/>
    <axis xyz="0 0 1"/>
    <parent link="leftFoot"/>
    <child link="leftCOP_Frame"/>
  </joint>
  <gazebo reference="leftCOP_Offset">
    <implicitSpringDamper>1</implicitSpringDamper>
  </gazebo>
  <link name="leftFootSixAxis_Frame">
    <!-- Virtual Link -->
    <inertial>
      <mass value="1e-07"/>
      <origin rpy="0 0 0" xyz="0 0 0"/>
      <inertia ixx="3.3333333333333322e-22" ixy="0.0" ixz="0.0" iyy="3.3333333333333322e-22" iyz="0.0" izz="4.999999999999999e-22"/>
    </inertial>
  </link>
  <joint name="leftFootSixAxis_Offset" type="fixed">
    <origin rpy="3.14 0.0 0.0" xyz="0.0215646 0.0 -0.051054"/>
    <axis xyz="0 0 1"/>
    <parent link="leftFoot"/>
    <child link="leftFootSixAxis_Frame"/>
  </joint>
  <gazebo reference="leftFootSixAxis_Offset">
    <implicitSpringDamper>1</implicitSpringDamper>
  </gazebo>
  <gazebo reference="leftAnkleRoll">
    <sensor name="leftFootSixAxis" type="force_torque">
      <pose>0.0215646 0.0 -0.051054 3.14 0.0 0.0</pose>
      <sensor_number id="FT16594"/>
      <node id="/left_leg/ankle/left_actuator"/>
      <api name="ati_sensor_interface::ATISensorInterface"/>
      <always_on>true</always_on>
      <update_rate>500.0</update_rate>
      <force_torque>
        <frame>sensor</frame>
        <measure_direction>parent_to_child</measure_direction>
      </force_torque>
    </sensor>
  </gazebo>
  <transmission name="leftHipYawTransmission">
    <type>transmission_interface/SimpleTransmission</type>
    <joint name="leftHipYaw">
      <hardwareInterface>EffortJointInterface</hardwareInterface>
    </joint>
    <actuator name="leftHipYaw">
      <node name="/pelvis/left_leg_j1"/>
      <mechanicalReduction>1</mechanicalReduction>
      <api name="robot_hardware_interface/TurbodriverAPI"/>
    </actuator>
  </transmission>
  <transmission name="leftHipRollTransmission">
    <type>transmission_interface/SimpleTransmission</type>
    <joint name="leftHipRoll">
      <hardwareInterface>EffortJointInterface</hardwareInterface>
    </joint>
    <actuator name="leftHipRoll">
      <node name="/left_leg/j2"/>
      <mechanicalReduction>1</mechanicalReduction>
      <api name="robot_hardware_interface/TurbodriverAPI"/>
    </actuator>
  </transmission>
  <transmission name="leftHipPitchTransmission">
    <type>transmission_interface/SimpleTransmission</type>
    <joint name="leftHipPitch">
      <hardwareInterface>EffortJointInterface</hardwareInterface>
    </joint>
    <actuator name="leftHipPitch">
      <node name="/left_leg/j3"/>
      <mechanicalReduction>1</mechanicalReduction>
      <api name="robot_hardware_interface/TurbodriverAPI"/>
    </actuator>
  </transmission>
  <transmission name="leftKneePitchTransmission">
    <type>transmission_interface/SimpleTransmission</type>
    <joint name="leftKneePitch">
      <hardwareInterface>EffortJointInterface</hardwareInterface>
    </joint>
    <actuator name="leftKneePitch">
      <node name="/left_leg/j4"/>
      <mechanicalReduction>1</mechanicalReduction>
      <api name="robot_hardware_interface/TurbodriverAPI"/>
    </actuator>
  </transmission>
  <transmission name="leftAnkleTransmission">
    <type>robot_transmission_interface::AnklePushrodTransmissionLoader</type>
    <joint name="leftAnklePitch">
      <role>pitch</role>
      <hardwareInterface>EffortJointInterface</hardwareInterface>
    </joint>
    <joint name="leftAnkleRoll">
      <role>roll</role>
      <hardwareInterface>EffortJointInterface</hardwareInterface>
    </joint>
    <actuator name="leftAnkleRightActuator">
      <node name="/left_leg/ankle/right_actuator"/>
      <role>right</role>
      <mechanicalReduction>1</mechanicalReduction>
      <api name="robot_hardware_interface/TurbodriverAPI_linear_futek"/>
    </actuator>
    <actuator name="leftAnkleLeftActuator">
      <node name="/left_leg/ankle/left_actuator"/>
      <role>left</role>
      <mechanicalReduction>1</mechanicalReduction>
      <api name="robot_hardware_interface/TurbodriverAPI_linear_futek"/>
    </actuator>
  </transmission>
  <link name="rightShoulderPitchLink">
    <inertial>
      <mass value="2.65"/>
      <origin rpy="0 0 0" xyz="0.012 -0.251 0.000000"/>
      <inertia ixx="0.013718167" ixy="0.0" ixz="0.0" iyy="0.010502833" iyz="0.0" izz="0.014806433"/>
    </inertial>
    <visual>
      <geometry>
        <mesh filename="package://val_description/model/meshes/arms/aj1_right.dae"/>
      </geometry>
      <origin rpy="0.0 0.0 0.0" xyz="0.0 0.0 0.0"/>
    </visual>
    <collision>
      <geometry>
        <mesh filename="package://val_description/model/meshes/arms/aj1_right.dae"/>
      </geometry>
      <origin rpy="0 0 0" xyz="0 0 0"/>
    </collision>
  </link>
  <link name="rightShoulderRollLink">
    <inertial>
      <mass value="3.97"/>
      <origin rpy="0 0 0" xyz="0.008513 -0.02068 -0.001088"/>
      <inertia ixx="0.014598842" ixy="-0.00066764" ixz="3.629e-05" iyy="0.006452136" iyz="8.283e-05" izz="0.016848319"/>
    </inertial>
    <visual>
      <geometry>
        <mesh filename="package://val_description/model/meshes/arms/aj2_right.dae"/>
      </geometry>
      <origin rpy="0.0 0.0 0.0" xyz="0.0 0.0 0.0"/>
    </visual>
    <collision>
      <geometry>
        <mesh filename="package://val_description/model/meshes/arms/aj2_right.dae"/>
      </geometry>
      <origin rpy="0 0 0" xyz="0 0 0"/>
    </collision>
  </link>
  <link name="rightShoulderYawLink">
    <inertial>
      <mass value="3.085"/>
      <origin rpy="0 0 0" xyz="-0.004304 -0.209832 -0.007295"/>
      <inertia ixx="0.039355177" ixy="0.007827077" ixz="0.000753947" iyy="0.004905765" iyz="-0.002723873" izz="0.041879481"/>
    </inertial>
    <visual>
      <geometry>
        <mesh filename="package://val_description/model/meshes/arms/aj3_right.dae"/>
      </geometry>
      <origin rpy="0.0 0.0 0.0" xyz="0.0 0.0 0.0"/>
    </visual>
    <collision>
      <geometry>
        <mesh filename="package://val_description/model/meshes/arms/aj3_right.dae"/>
      </geometry>
      <origin rpy="0 0 0" xyz="0 0 0"/>
    </collision>
  </link>
  <link name="rightElbowPitchLink">
    <inertial>
      <mass value="1.83"/>
      <origin rpy="0 0 0" xyz="-0.020344 -0.014722 -0.0223"/>
      <inertia ixx="0.003314516" ixy="-0.000535099" ixz="-0.000728077" iyy="0.003505669" iyz="-0.000423865" izz="0.003011283"/>
    </inertial>
    <visual>
      <geometry>
        <mesh filename="package://val_description/model/meshes/arms/aj4_right.dae"/>
      </geometry>
      <origin rpy="0.0 0.0 0.0" xyz="0.0 0.0 0.0"/>
    </visual>
    <collision>
      <geometry>
        <mesh filename="package://val_description/model/meshes/arms/aj4_right.dae"/>
      </geometry>
      <origin rpy="0 0 0" xyz="0 0 0"/>
    </collision>
  </link>
  <joint name="rightShoulderPitch" type="revolute">
    <origin rpy="0.0 0.0 0.0" xyz="-0.0316 0.0 0.2984"/>
    <axis xyz="0 1 0"/>
    <parent link="torso"/>
    <child link="rightShoulderPitchLink"/>
    <limit effort="190" lower="-2.85" upper="2.0" velocity="3"/>
    <controller_gains Kd="0.0" Ki="0.0" Kp="0.0"/>
    <dynamics damping="0.1" friction="0.0"/>
  </joint>
  <gazebo reference="rightShoulderPitch">
    <provideFeedback>1</provideFeedback>
    <implicitSpringDamper>1</implicitSpringDamper>
  </gazebo>
  <joint name="rightShoulderRoll" type="revolute">
    <origin rpy="0.0 0.0 0.0" xyz="0.0 -0.2499 0.0"/>
    <axis xyz="1 0 0"/>
    <parent link="rightShoulderPitchLink"/>
    <child link="rightShoulderRollLink"/>
    <limit effort="350" lower="-1.266" upper="1.519" velocity="3.5"/>
    <controller_gains Kd="0.0" Ki="0.0" Kp="0.0"/>
    <dynamics damping="0.1" friction="0.0"/>
  </joint>
  <gazebo reference="rightShoulderRoll">
    <provideFeedback>1</provideFeedback>
    <implicitSpringDamper>1</implicitSpringDamper>
  </gazebo>
  <joint name="rightShoulderYaw" type="revolute">
    <origin rpy="0.0 0.0 0.0" xyz="0.0 0.0 0.0"/>
    <axis xyz="0 1 0"/>
    <parent link="rightShoulderRollLink"/>
    <child link="rightShoulderYawLink"/>
    <limit effort="65" lower="-3.10" upper="2.18" velocity="1.5"/>
    <controller_gains Kd="0.0" Ki="0.0" Kp="0.0"/>
    <dynamics damping="0.1" friction="0.0"/>
  </joint>
  <gazebo reference="rightShoulderYaw">
    <provideFeedback>1</provideFeedback>
    <implicitSpringDamper>1</implicitSpringDamper>
  </gazebo>
  <joint name="rightElbowPitch" type="revolute">
    <origin rpy="0.0 0.0 0.0" xyz="0.0254 -0.33 0.0"/>
    <axis xyz="0 0 1"/>
    <parent link="rightShoulderYawLink"/>
    <child link="rightElbowPitchLink"/>
    <limit effort="65" lower="-0.12" upper="2.174" velocity="3.5"/>
    <controller_gains Kd="0.0" Ki="0.0" Kp="0.0"/>
    <dynamics damping="0.1" friction="0.0"/>
  </joint>
  <gazebo reference="rightElbowPitch">
    <provideFeedback>1</provideFeedback>
    <implicitSpringDamper>1</implicitSpringDamper>
  </gazebo>
  <link name="rightForearmLink">
    <inertial>
      <mass value="2.476"/>
      <origin rpy="0 0 0" xyz="0.015000 -0.13 0.019564"/>
      <inertia ixx="0.01175543" ixy="-0.001300853" ixz="-0.000727141" iyy="0.005071567" iyz="-0.001695416" izz="0.011365657"/>
    </inertial>
    <visual>
      <geometry>
        <mesh filename="package://val_description/model/meshes/arms/aj5_right.dae"/>
      </geometry>
      <origin rpy="0.0 0.0 0.0" xyz="0.0 0.0 0.0"/>
    </visual>
    <collision>
      <geometry>
        <mesh filename="package://val_description/model/meshes/arms/aj5_right.dae"/>
      </geometry>
      <origin rpy="0 0 0" xyz="0 0 0"/>
    </collision>
  </link>
  <link name="rightWristRollLink">
    <inertial>
      <mass value="0.14"/>
      <origin rpy="0 0 0" xyz="0 0 0"/>
      <inertia ixx="3.0251e-05" ixy="-1.25e-07" ixz="-3.6e-08" iyy="3.772e-05" iyz="0.0" izz="9.395e-06"/>
    </inertial>
    <visual>
      <geometry>
        <mesh filename="package://val_description/model/meshes/arms/aj6_right.dae"/>
      </geometry>
      <origin rpy="0.0 0.0 0.0" xyz="0.0 0.0 0.0"/>
    </visual>
    <collision>
      <geometry>
        <mesh filename="package://val_description/model/meshes/arms/aj6_right.dae"/>
      </geometry>
      <origin rpy="0 0 0" xyz="0 0 0"/>
    </collision>
  </link>
  <link name="rightPalm">
    <inertial>
      <mass value="0.712"/>
      <origin rpy="0 0 0" xyz="0.002954 -0.052034 -0.000236"/>
      <inertia ixx="0.000943493" ixy="3.4393e-05" ixz="-3.8828e-05" iyy="0.000711024" iyz="2.3429e-05" izz="0.000610199"/>
    </inertial>
    <visual>
      <geometry>
        <mesh filename="package://val_description/model/meshes/arms/palm_right.dae"/>
      </geometry>
      <origin rpy="0.0 0.0 0.0" xyz="0.0 0.0 0.0"/>
    </visual>
    <collision>
      <geometry>
        <mesh filename="package://val_description/model/meshes/arms/palm_right.dae"/>
      </geometry>
      <origin rpy="0 0 0" xyz="0 0 0"/>
    </collision>
  </link>
  <gazebo reference="rightPalm">
    <kp>1e5</kp>
    <kd>1</kd>
    <maxVel>0.1</maxVel>
    <minDepth>0.0015</minDepth>
  </gazebo>
  <joint name="rightForearmYaw" type="revolute">
    <origin rpy="0.0 0.0 0.0" xyz="-0.0254 0 0"/>
    <axis xyz="0 1 0"/>
    <parent link="rightElbowPitchLink"/>
    <child link="rightForearmLink"/>
    <limit effort="26" lower="-2.019" upper="3.14" velocity="0.8"/>
    <controller_gains Kd="0.0" Ki="0.0" Kp="1000"/>
    <dynamics damping="0.1" friction="0.0"/>
  </joint>
  <gazebo reference="rightForearmYaw">
    <provideFeedback>1</provideFeedback>
    <implicitSpringDamper>1</implicitSpringDamper>
  </gazebo>
  <joint name="rightWristRoll" type="revolute">
    <origin rpy="0.0 0.0 0.0" xyz="0.0 -0.2871 0.0"/>
    <axis xyz="1 0 0"/>
    <parent link="rightForearmLink"/>
    <child link="rightWristRollLink"/>
    <limit effort="14" lower="-0.35" upper="0.35" velocity="1"/>
    <controller_gains Kd="0" Ki="0.0" Kp="500"/>
    <dynamics damping="0.1" friction="0.0"/>
  </joint>
  <gazebo reference="rightWristRoll">
    <provideFeedback>1</provideFeedback>
    <implicitSpringDamper>1</implicitSpringDamper>
  </gazebo>
  <joint name="rightWristPitch" type="revolute">
    <origin rpy="0.0 0.0 0.0" xyz="0.0 0.0 0.0"/>
    <axis xyz="0 0 1"/>
    <parent link="rightWristRollLink"/>
    <child link="rightPalm"/>
    <limit effort="14" lower="-0.6" upper="0.6" velocity="1"/>
    <controller_gains Kd="0" Ki="0.0" Kp="500"/>
    <dynamics damping="0.1" friction="0.0"/>
  </joint>
  <gazebo reference="rightWristPitch">
    <provideFeedback>1</provideFeedback>
    <implicitSpringDamper>1</implicitSpringDamper>
  </gazebo>
  <transmission name="rightShoulderPitchTransmission">
    <type>transmission_interface/SimpleTransmission</type>
    <joint name="rightShoulderPitch">
      <hardwareInterface>EffortJointInterface</hardwareInterface>
    </joint>
    <actuator name="rightShoulderPitch">
      <node name="/trunk/right_arm_j1"/>
      <mechanicalReduction>1</mechanicalReduction>
      <api name="robot_hardware_interface/TurbodriverAPI"/>
    </actuator>
  </transmission>
  <transmission name="rightShoulderRollTransmission">
    <type>transmission_interface/SimpleTransmission</type>
    <joint name="rightShoulderRoll">
      <hardwareInterface>EffortJointInterface</hardwareInterface>
    </joint>
    <actuator name="rightShoulderRoll">
      <node name="/right_arm/j2"/>
      <mechanicalReduction>1</mechanicalReduction>
      <api name="robot_hardware_interface/TurbodriverAPI"/>
    </actuator>
  </transmission>
  <transmission name="rightShoulderYawTransmission">
    <type>transmission_interface/SimpleTransmission</type>
    <joint name="rightShoulderYaw">
      <hardwareInterface>EffortJointInterface</hardwareInterface>
    </joint>
    <actuator name="rightShoulderYaw">
      <node name="/right_arm/j3"/>
      <mechanicalReduction>1</mechanicalReduction>
      <api name="robot_hardware_interface/TurbodriverAPI"/>
    </actuator>
  </transmission>
  <transmission name="rightElbowPitchTransmission">
    <type>transmission_interface/SimpleTransmission</type>
    <joint name="rightElbowPitch">
      <hardwareInterface>EffortJointInterface</hardwareInterface>
    </joint>
    <actuator name="rightElbowPitch">
      <node name="/right_arm/j4"/>
      <mechanicalReduction>1</mechanicalReduction>
      <api name="robot_hardware_interface/TurbodriverAPI"/>
    </actuator>
  </transmission>
  <transmission name="rightForearmYawTransmission">
    <type>transmission_interface/SimpleTransmission</type>
    <joint name="rightForearmYaw">
      <hardwareInterface>EffortJointInterface</hardwareInterface>
    </joint>
    <actuator name="rightForearmYaw">
      <node name="/right_arm/j5"/>
      <mechanicalReduction>1</mechanicalReduction>
      <api name="robot_hardware_interface/TurbodriverAPI"/>
    </actuator>
  </transmission>
  <transmission name="rightWristTransmission">
    <type>robot_transmission_interface/WristPushrodTransmission</type>
    <joint name="rightWristPitch">
      <role>pitch</role>
      <hardwareInterface>EffortJointInterface</hardwareInterface>
    </joint>
    <joint name="rightWristRoll">
      <role>roll</role>
      <hardwareInterface>EffortJointInterface</hardwareInterface>
    </joint>
    <actuator name="rightWristRightActuator">
      <node name="/right_arm/wrist/right_actuator"/>
      <role>bottom</role>
      <mechanicalReduction>1</mechanicalReduction>
      <api name="robot_hardware_interface::TurbodriverLinearFutekJointVelocity"/>
    </actuator>
    <actuator name="rightWristLeftActuator">
      <node name="/right_arm/wrist/left_actuator"/>
      <role>top</role>
      <mechanicalReduction>1</mechanicalReduction>
      <api name="robot_hardware_interface::TurbodriverLinearFutekJointVelocity"/>
    </actuator>
  </transmission>
  <transmission name="rightIndexFingerMotorPitch1Transmission">
    <type>transmission_interface/SimpleTransmission</type>
    <joint name="rightIndexFingerMotorPitch1">
      <hardwareInterface>EffortJointInterface</hardwareInterface>
    </joint>
    <actuator name="rightIndexFingerMotorPitch1">
      <node name="/right_arm/hand/index"/>
      <mechanicalReduction>1</mechanicalReduction>
      <api name="robot_hardware_interface/TurbodriverAPI"/>
    </actuator>
  </transmission>
  <transmission name="rightMiddleFingerMotorPitch1Transmission">
    <type>transmission_interface/SimpleTransmission</type>
    <joint name="rightMiddleFingerMotorPitch1">
      <hardwareInterface>EffortJointInterface</hardwareInterface>
    </joint>
    <actuator name="rightMiddleFingerMotorPitch1">
      <node name="/right_arm/hand/middle"/>
      <mechanicalReduction>1</mechanicalReduction>
      <api name="robot_hardware_interface/TurbodriverAPI"/>
    </actuator>
  </transmission>
  <transmission name="rightPinkyMotorPitch1Transmission">
    <type>transmission_interface/SimpleTransmission</type>
    <joint name="rightPinkyMotorPitch1">
      <hardwareInterface>EffortJointInterface</hardwareInterface>
    </joint>
    <actuator name="rightPinkyMotorPitch1">
      <node name="/right_arm/hand/pinky"/>
      <mechanicalReduction>1</mechanicalReduction>
      <api name="robot_hardware_interface/TurbodriverAPI"/>
    </actuator>
  </transmission>
  <transmission name="rightThumbMotorRollTransmission">
    <type>transmission_interface/SimpleTransmission</type>
    <joint name="rightThumbMotorRoll">
      <hardwareInterface>EffortJointInterface</hardwareInterface>
    </joint>
    <actuator name="rightThumbMotorRoll">
      <node name="/right_arm/hand/thumb_roll"/>
      <mechanicalReduction>1</mechanicalReduction>
      <api name="robot_hardware_interface/TurbodriverAPI"/>
    </actuator>
  </transmission>
  <transmission name="rightThumbMotorPitch1Transmission">
    <type>transmission_interface/SimpleTransmission</type>
    <joint name="rightThumbMotorPitch1">
      <hardwareInterface>EffortJointInterface</hardwareInterface>
    </joint>
    <actuator name="rightThumbMotorPitch1">
      <node name="/right_arm/hand/thumb_proximal"/>
      <mechanicalReduction>1</mechanicalReduction>
      <api name="robot_hardware_interface/TurbodriverAPI"/>
    </actuator>
  </transmission>
  <transmission name="rightThumbMotorPitch2Transmission">
    <type>transmission_interface/SimpleTransmission</type>
    <joint name="rightThumbMotorPitch2">
      <hardwareInterface>EffortJointInterface</hardwareInterface>
    </joint>
    <actuator name="rightThumbMotorPitch2">
      <node name="/right_arm/hand/thumb_distal"/>
      <mechanicalReduction>1</mechanicalReduction>
      <api name="robot_hardware_interface/TurbodriverAPI"/>
    </actuator>
  </transmission>
  <link name="rightThumbRollLink">
    <inertial>
      <mass value="0.017"/>
      <origin rpy="0 0 0" xyz="0 0 0.01"/>
      <inertia ixx="2.7778767e-06" ixy="5.6718533e-09" ixz="-9.5523207e-08" iyy="3.5462642e-06" iyz="3.663718e-08" izz="1.3553297e-06"/>
    </inertial>
    <visual>
      <geometry>
        <mesh filename="package://val_description/model/meshes/fingers/thumbj1_right.dae"/>
      </geometry>
      <origin rpy="0.0 0.0 0.0" xyz="0.0 0.0 0.0"/>
    </visual>
    <collision>
      <geometry>
        <mesh filename="package://val_description/model/meshes/fingers/thumbj1_right.dae"/>
      </geometry>
      <origin rpy="0 0 0" xyz="0 0 0"/>
    </collision>
  </link>
  <gazebo reference="rightThumbRollLink">
    <kp>1e5</kp>
    <kd>1</kd>
    <maxVel>0.1</maxVel>
    <minDepth>0.0015</minDepth>
  </gazebo>
  <link name="rightThumbPitch1Link">
    <inertial>
      <mass value="0.02"/>
      <origin rpy="0 0 0" xyz="0.0 -0.005 0.02"/>
      <inertia ixx="4.239e-06" ixy="0.0" ixz="-0.0" iyy="4.582e-06" iyz="0.0" izz="1.47e-06"/>
    </inertial>
    <visual>
      <geometry>
        <mesh filename="package://val_description/model/meshes/fingers/thumbj2_right.dae"/>
      </geometry>
      <origin rpy="0.0 0.0 0.0" xyz="0.0 0.0 0.0"/>
    </visual>
    <collision>
      <geometry>
        <mesh filename="package://val_description/model/meshes/fingers/thumbj2_right.dae"/>
      </geometry>
      <origin rpy="0 0 0" xyz="0 0 0"/>
    </collision>
  </link>
  <gazebo reference="rightThumbPitch1Link">
    <kp>1e5</kp>
    <kd>1</kd>
    <maxVel>0.1</maxVel>
    <minDepth>0.0015</minDepth>
  </gazebo>
  <link name="rightThumbPitch2Link">
    <inertial>
      <mass value="0.013"/>
      <origin rpy="0 0 0" xyz="0 -0.004 0.017"/>
      <inertia ixx="1.266e-06" ixy="0.0" ixz="-0.0" iyy="1.503e-06" iyz="-0.0" izz="6.99e-07"/>
    </inertial>
    <visual>
      <geometry>
        <mesh filename="package://val_description/model/meshes/fingers/thumbj3_right.dae"/>
      </geometry>
      <origin rpy="0.0 0.0 0.0" xyz="0.0 0.0 0.0"/>
    </visual>
    <collision>
      <geometry>
        <mesh filename="package://val_description/model/meshes/fingers/thumbj3_right.dae"/>
      </geometry>
      <origin rpy="0 0 0" xyz="0 0 0"/>
    </collision>
  </link>
  <gazebo reference="rightThumbPitch2Link">
    <kp>1e5</kp>
    <kd>1</kd>
    <maxVel>0.1</maxVel>
    <minDepth>0.0015</minDepth>
  </gazebo>
  <link name="rightThumbPitch3Link">
    <inertial>
      <mass value="0.006"/>
      <origin rpy="0 0 0" xyz="0 -0.004 0.01"/>
      <inertia ixx="3.22e-07" ixy="0.0" ixz="0.0" iyy="4.06e-07" iyz="0.0" izz="2.1e-07"/>
    </inertial>
    <visual>
      <geometry>
        <mesh filename="package://val_description/model/meshes/fingers/thumbj4_right.dae"/>
      </geometry>
      <origin rpy="0.0 0.0 0.0" xyz="0.0 0.0 0.0"/>
    </visual>
    <collision>
      <geometry>
        <mesh filename="package://val_description/model/meshes/fingers/thumbj4_right.dae"/>
      </geometry>
      <origin rpy="0 0 0" xyz="0 0 0"/>
    </collision>
  </link>
  <gazebo reference="rightThumbPitch3Link">
    <kp>1e5</kp>
    <kd>1</kd>
    <maxVel>0.1</maxVel>
    <minDepth>0.0015</minDepth>
  </gazebo>
  <joint name="rightThumbRoll" type="revolute">
    <origin rpy="0.3491 0.0 0.0" xyz="0.0049 -0.0351 0.0228"/>
    <axis xyz="0 1 0"/>
    <parent link="rightPalm"/>
    <child link="rightThumbRollLink"/>
    <limit effort="10" lower="0.0" upper="2.356" velocity="1"/>
    <controller_gains Kd="0.0" Ki="0.0" Kp="5.0"/>
    <dynamics damping="0.5" friction="0.5"/>
  </joint>
  <gazebo reference="rightThumbRoll">
    <provideFeedback>1</provideFeedback>
    <implicitSpringDamper>1</implicitSpringDamper>
  </gazebo>
  <joint name="rightThumbPitch1" type="revolute">
    <origin rpy="-0.3491 0.0 0.0" xyz="0.0 0.0 0.0229"/>
    <axis xyz="1 0 0"/>
    <parent link="rightThumbRollLink"/>
    <child link="rightThumbPitch1Link"/>
    <limit effort="10" lower="0.0" upper="1.658" velocity="1"/>
    <controller_gains Kd="0.0" Ki="0.0" Kp="5.0"/>
    <dynamics damping="0.5" friction="0.5"/>
  </joint>
  <gazebo reference="rightThumbPitch1">
    <provideFeedback>1</provideFeedback>
    <implicitSpringDamper>1</implicitSpringDamper>
  </gazebo>
  <joint name="rightThumbPitch2" type="revolute">
    <origin rpy="0.0 0.0 0.0" xyz="0.0 -0.0066 0.0375"/>
    <axis xyz="1 0 0"/>
    <parent link="rightThumbPitch1Link"/>
    <child link="rightThumbPitch2Link"/>
    <limit effort="10" lower="0.0" upper="1.92" velocity="1"/>
    <controller_gains Kd="0.0" Ki="0.0" Kp="5.0"/>
    <mimic joint="rightThumbPitch1" multiplier="0.835" offset="0"/>
    <dynamics damping="0.5" friction="0.5"/>
  </joint>
  <gazebo reference="rightThumbPitch2">
    <provideFeedback>1</provideFeedback>
    <implicitSpringDamper>1</implicitSpringDamper>
  </gazebo>
  <joint name="rightThumbPitch3" type="revolute">
    <origin rpy="0.0 0.0 0.0" xyz="0.0 -0.0049 0.0275"/>
    <axis xyz="1 0 0"/>
    <parent link="rightThumbPitch2Link"/>
    <child link="rightThumbPitch3Link"/>
    <limit effort="10" lower="0.0" upper="1.57" velocity="1"/>
    <controller_gains Kd="0.0" Ki="0.0" Kp="5.0"/>
    <mimic joint="rightThumbPitch1" multiplier="0.668" offset="0"/>
    <dynamics damping="0.5" friction="0.5"/>
  </joint>
  <gazebo reference="rightThumbPitch3">
    <provideFeedback>1</provideFeedback>
    <implicitSpringDamper>1</implicitSpringDamper>
  </gazebo>
  <link name="rightIndexFingerPitch1Link">
    <inertial>
      <mass value="0.02"/>
      <origin rpy="0 0 0" xyz="0 -0.02 0"/>
      <inertia ixx="4.232e-06" ixy="-6e-08" ixz="-8e-09" iyy="1.215e-06" iyz="-7e-09" izz="3.892e-06"/>
    </inertial>
    <visual>
      <geometry>
        <mesh filename="package://val_description/model/meshes/fingers/indexj1_right.dae"/>
      </geometry>
      <origin rpy="0.0 0.0 0.0" xyz="0.0 0.0 0.0"/>
    </visual>
    <collision>
      <geometry>
        <mesh filename="package://val_description/model/meshes/fingers/indexj1_right.dae"/>
      </geometry>
      <origin rpy="0 0 0" xyz="0 0 0"/>
    </collision>
  </link>
  <gazebo reference="rightIndexFingerPitch1Link">
    <kp>1e5</kp>
    <kd>1</kd>
    <maxVel>0.1</maxVel>
    <minDepth>0.0015</minDepth>
  </gazebo>
  <link name="rightIndexFingerPitch2Link">
    <inertial>
      <mass value="0.018"/>
      <origin rpy="0 0 0" xyz="0 -0.013 0"/>
      <inertia ixx="1.562e-06" ixy="-1.7e-08" ixz="-1.3e-08" iyy="7.22e-07" iyz="3.1e-08" izz="1.255e-06"/>
    </inertial>
    <visual>
      <geometry>
        <mesh filename="package://val_description/model/meshes/fingers/indexj2_right.dae"/>
      </geometry>
      <origin rpy="0.0 0.0 0.0" xyz="0.0 0.0 0.0"/>
    </visual>
    <collision>
      <geometry>
        <mesh filename="package://val_description/model/meshes/fingers/indexj2_right.dae"/>
      </geometry>
      <origin rpy="0 0 0" xyz="0 0 0"/>
    </collision>
  </link>
  <gazebo reference="rightIndexFingerPitch2Link">
    <kp>1e5</kp>
    <kd>1</kd>
    <maxVel>0.1</maxVel>
    <minDepth>0.0015</minDepth>
  </gazebo>
  <link name="rightIndexFingerPitch3Link">
    <inertial>
      <mass value="0.01"/>
      <origin rpy="0 0 0" xyz="0 -0.01 0"/>
      <inertia ixx="6.02e-07" ixy="-2.4e-08" ixz="0.0" iyy="2.09e-07" iyz="1.7e-08" izz="5.02e-07"/>
    </inertial>
    <visual>
      <geometry>
        <mesh filename="package://val_description/model/meshes/fingers/indexj3_right.dae"/>
      </geometry>
      <origin rpy="0.0 0.0 0.0" xyz="0.0 0.0 0.0"/>
    </visual>
    <collision>
      <geometry>
        <mesh filename="package://val_description/model/meshes/fingers/indexj3_right.dae"/>
      </geometry>
      <origin rpy="0 0 0" xyz="0 0 0"/>
    </collision>
  </link>
  <gazebo reference="rightIndexFingerPitch3Link">
    <kp>1e5</kp>
    <kd>1</kd>
    <maxVel>0.1</maxVel>
    <minDepth>0.0015</minDepth>
  </gazebo>
  <joint name="rightIndexFingerPitch1" type="revolute">
    <origin rpy="0.02 0.0 0.0" xyz="0.0022 -0.0976 0.017"/>
    <axis xyz="0 0 1"/>
    <parent link="rightPalm"/>
    <child link="rightIndexFingerPitch1Link"/>
    <limit effort="10" lower="0.0" upper="1.57" velocity="1"/>
    <controller_gains Kd="0.0" Ki="0.0" Kp="5.0"/>
    <dynamics damping="0.5" friction="0.5"/>
  </joint>
  <gazebo reference="rightIndexFingerPitch1">
    <provideFeedback>1</provideFeedback>
    <implicitSpringDamper>1</implicitSpringDamper>
  </gazebo>
  <joint name="rightIndexFingerPitch2" type="revolute">
    <origin rpy="0.0 0.0 0.0" xyz="0.0 -0.0381 0.0"/>
    <axis xyz="0 0 1"/>
    <parent link="rightIndexFingerPitch1Link"/>
    <child link="rightIndexFingerPitch2Link"/>
    <limit effort="10" lower="0.0" upper="1.658" velocity="1"/>
    <controller_gains Kd="0.0" Ki="0.0" Kp="5.0"/>
    <mimic joint="rightIndexFingerPitch1" multiplier="0.835" offset="0"/>
    <dynamics damping="0.5" friction="0.5"/>
  </joint>
  <gazebo reference="rightIndexFingerPitch2">
    <provideFeedback>1</provideFeedback>
    <implicitSpringDamper>1</implicitSpringDamper>
  </gazebo>
  <joint name="rightIndexFingerPitch3" type="revolute">
    <origin rpy="0.0 0.0 0.0" xyz="0.0 -0.0229 0"/>
    <axis xyz="0 0 1"/>
    <parent link="rightIndexFingerPitch2Link"/>
    <child link="rightIndexFingerPitch3Link"/>
    <limit effort="10" lower="0.0" upper="1.92" velocity="1"/>
    <controller_gains Kd="0.0" Ki="0.0" Kp="5.0"/>
    <mimic joint="rightIndexFingerPitch1" multiplier="0.668" offset="0"/>
    <dynamics damping="0.5" friction="0.5"/>
  </joint>
  <gazebo reference="rightIndexFingerPitch3">
    <provideFeedback>1</provideFeedback>
    <implicitSpringDamper>1</implicitSpringDamper>
  </gazebo>
  <link name="rightMiddleFingerPitch1Link">
    <inertial>
      <mass value="0.02"/>
      <origin rpy="0 0 0" xyz="0 -0.02 0"/>
      <inertia ixx="5.148e-06" ixy="-4.2e-08" ixz="-1.1e-08" iyy="1.322e-06" iyz="-4e-09" izz="4.592e-06"/>
    </inertial>
    <visual>
      <geometry>
        <mesh filename="package://val_description/model/meshes/fingers/middlej1_right.dae"/>
      </geometry>
      <origin rpy="0.0 0.0 0.0" xyz="0.0 0.0 0.0"/>
    </visual>
    <collision>
      <geometry>
        <mesh filename="package://val_description/model/meshes/fingers/middlej1_right.dae"/>
      </geometry>
      <origin rpy="0 0 0" xyz="0 0 0"/>
    </collision>
  </link>
  <gazebo reference="rightMiddleFingerPitch1Link">
    <kp>1e5</kp>
    <kd>1</kd>
    <maxVel>0.1</maxVel>
    <minDepth>0.0015</minDepth>
  </gazebo>
  <link name="rightMiddleFingerPitch2Link">
    <inertial>
      <mass value="0.011"/>
      <origin rpy="0 0 0" xyz="0 -0.013 0"/>
      <inertia ixx="1.97e-06" ixy="3.4e-08" ixz="-1.1e-08" iyy="5.54e-07" iyz="-7.8e-08" izz="2.272e-06"/>
    </inertial>
    <visual>
      <geometry>
        <mesh filename="package://val_description/model/meshes/fingers/middlej2_right.dae"/>
      </geometry>
      <origin rpy="0.0 0.0 0.0" xyz="0.0 0.0 0.0"/>
    </visual>
    <collision>
      <geometry>
        <mesh filename="package://val_description/model/meshes/fingers/middlej2_right.dae"/>
      </geometry>
      <origin rpy="0 0 0" xyz="0 0 0"/>
    </collision>
  </link>
  <gazebo reference="rightMiddleFingerPitch2Link">
    <kp>1e5</kp>
    <kd>1</kd>
    <maxVel>0.1</maxVel>
    <minDepth>0.0015</minDepth>
  </gazebo>
  <link name="rightMiddleFingerPitch3Link">
    <inertial>
      <mass value="0.006"/>
      <origin rpy="0 0 0" xyz="0 -0.01 0"/>
      <inertia ixx="3.96e-07" ixy="-9e-09" ixz="-1e-09" iyy="1.6e-07" iyz="1.6e-08" izz="3.03e-07"/>
    </inertial>
    <visual>
      <geometry>
        <mesh filename="package://val_description/model/meshes/fingers/middlej3_right.dae"/>
      </geometry>
      <origin rpy="0.0 0.0 0.0" xyz="0.0 0.0 0.0"/>
    </visual>
    <collision>
      <geometry>
        <mesh filename="package://val_description/model/meshes/fingers/middlej3_right.dae"/>
      </geometry>
      <origin rpy="0 0 0" xyz="0 0 0"/>
    </collision>
  </link>
  <gazebo reference="rightMiddleFingerPitch3Link">
    <kp>1e5</kp>
    <kd>1</kd>
    <maxVel>0.1</maxVel>
    <minDepth>0.0015</minDepth>
  </gazebo>
  <joint name="rightMiddleFingerPitch1" type="revolute">
    <origin rpy="0.1222 0.0 0.0" xyz="0.0022 -0.097 -0.0119"/>
    <axis xyz="0 0 1"/>
    <parent link="rightPalm"/>
    <child link="rightMiddleFingerPitch1Link"/>
    <limit effort="10" lower="0.0" upper="1.658" velocity="1"/>
    <controller_gains Kd="0.0" Ki="0.0" Kp="5.0"/>
    <dynamics damping="0.5" friction="0.5"/>
  </joint>
  <gazebo reference="rightMiddleFingerPitch1">
    <provideFeedback>1</provideFeedback>
    <implicitSpringDamper>1</implicitSpringDamper>
  </gazebo>
  <joint name="rightMiddleFingerPitch2" type="revolute">
    <origin rpy="0.0 0.0 0.0" xyz="0.0 -0.0381 0.0"/>
    <axis xyz="0 0 1"/>
    <parent link="rightMiddleFingerPitch1Link"/>
    <child link="rightMiddleFingerPitch2Link"/>
    <limit effort="10" lower="0.0" upper="1.92" velocity="1"/>
    <controller_gains Kd="0.0" Ki="0.0" Kp="5.0"/>
    <mimic joint="rightMiddleFingerPitch1" multiplier="0.835" offset="0"/>
    <dynamics damping="0.5" friction="0.5"/>
  </joint>
  <gazebo reference="rightMiddleFingerPitch2">
    <provideFeedback>1</provideFeedback>
    <implicitSpringDamper>1</implicitSpringDamper>
  </gazebo>
  <joint name="rightMiddleFingerPitch3" type="revolute">
    <origin rpy="0.0 0.0 0.0" xyz="0.0 -0.0229 0.0"/>
    <axis xyz="0 0 1"/>
    <parent link="rightMiddleFingerPitch2Link"/>
    <child link="rightMiddleFingerPitch3Link"/>
    <limit effort="10" lower="0.0" upper="1.57" velocity="1"/>
    <controller_gains Kd="0.0" Ki="0.0" Kp="5.0"/>
    <mimic joint="rightMiddleFingerPitch1" multiplier="0.668" offset="0"/>
    <dynamics damping="0.5" friction="0.5"/>
  </joint>
  <gazebo reference="rightMiddleFingerPitch3">
    <provideFeedback>1</provideFeedback>
    <implicitSpringDamper>1</implicitSpringDamper>
  </gazebo>
  <link name="rightPinkyPitch1Link">
    <inertial>
      <mass value="0.02"/>
      <origin rpy="0 0 0" xyz="0 -0.02 0"/>
      <inertia ixx="5.148e-06" ixy="-4.2e-08" ixz="-1.1e-08" iyy="1.322e-06" iyz="-4e-09" izz="4.592e-06"/>
    </inertial>
    <visual>
      <geometry>
        <mesh filename="package://val_description/model/meshes/fingers/pinkyj1_right.dae"/>
      </geometry>
      <origin rpy="0.0 0.0 0.0" xyz="0.0 0.0 0.0"/>
    </visual>
    <collision>
      <geometry>
        <mesh filename="package://val_description/model/meshes/fingers/pinkyj1_right.dae"/>
      </geometry>
      <origin rpy="0 0 0" xyz="0 0 0"/>
    </collision>
  </link>
  <gazebo reference="rightPinkyPitch1Link">
    <kp>1e5</kp>
    <kd>1</kd>
    <maxVel>0.1</maxVel>
    <minDepth>0.0015</minDepth>
  </gazebo>
  <link name="rightPinkyPitch2Link">
    <inertial>
      <mass value="0.011"/>
      <origin rpy="0 0 0" xyz="0 -0.013 0"/>
      <inertia ixx="1.97e-06" ixy="3.4e-08" ixz="-1.1e-08" iyy="5.54e-07" iyz="-7.8e-08" izz="2.272e-06"/>
    </inertial>
    <visual>
      <geometry>
        <mesh filename="package://val_description/model/meshes/fingers/pinkyj2_right.dae"/>
      </geometry>
      <origin rpy="0.0 0.0 0.0" xyz="0.0 0.0 0.0"/>
    </visual>
    <collision>
      <geometry>
        <mesh filename="package://val_description/model/meshes/fingers/pinkyj2_right.dae"/>
      </geometry>
      <origin rpy="0 0 0" xyz="0 0 0"/>
    </collision>
  </link>
  <gazebo reference="rightPinkyPitch2Link">
    <kp>1e5</kp>
    <kd>1</kd>
    <maxVel>0.1</maxVel>
    <minDepth>0.0015</minDepth>
  </gazebo>
  <link name="rightPinkyPitch3Link">
    <inertial>
      <mass value="0.006"/>
      <origin rpy="0 0 0" xyz="0 -0.01 0"/>
      <inertia ixx="3.96e-07" ixy="-9e-09" ixz="-1e-09" iyy="1.6e-07" iyz="1.6e-08" izz="3.03e-07"/>
    </inertial>
    <visual>
      <geometry>
        <mesh filename="package://val_description/model/meshes/fingers/pinkyj3_right.dae"/>
      </geometry>
      <origin rpy="0.0 0.0 0.0" xyz="0.0 0.0 0.0"/>
    </visual>
    <collision>
      <geometry>
        <mesh filename="package://val_description/model/meshes/fingers/pinkyj3_right.dae"/>
      </geometry>
      <origin rpy="0 0 0" xyz="0 0 0"/>
    </collision>
  </link>
  <gazebo reference="rightPinkyPitch3Link">
    <kp>1e5</kp>
    <kd>1</kd>
    <maxVel>0.1</maxVel>
    <minDepth>0.0015</minDepth>
  </gazebo>
  <joint name="rightPinkyPitch1" type="revolute">
    <origin rpy="0.22 0.0 0.0" xyz="0.0022 -0.0838 -0.041"/>
    <axis xyz="0 0 1"/>
    <parent link="rightPalm"/>
    <child link="rightPinkyPitch1Link"/>
    <limit effort="10" lower="0.0" upper="1.57" velocity="1"/>
    <controller_gains Kd="0.0" Ki="0.0" Kp="5.0"/>
    <dynamics damping="0.5" friction="0.5"/>
  </joint>
  <gazebo reference="rightPinkyPitch1">
    <provideFeedback>1</provideFeedback>
    <implicitSpringDamper>1</implicitSpringDamper>
  </gazebo>
  <joint name="rightPinkyPitch2" type="revolute">
    <origin rpy="0.0 0.0 0.0" xyz="0.0 -0.0381 0.0"/>
    <axis xyz="0 0 1"/>
    <parent link="rightPinkyPitch1Link"/>
    <child link="rightPinkyPitch2Link"/>
    <limit effort="10" lower="0.0" upper="1.658" velocity="1"/>
    <controller_gains Kd="0.0" Ki="0.0" Kp="5.0"/>
    <mimic joint="rightPinkyPitch1" multiplier="0.835" offset="0"/>
    <dynamics damping="0.5" friction="0.5"/>
  </joint>
  <gazebo reference="rightPinkyPitch2">
    <provideFeedback>1</provideFeedback>
    <implicitSpringDamper>1</implicitSpringDamper>
  </gazebo>
  <joint name="rightPinkyPitch3" type="revolute">
    <origin rpy="0.0 0.0 0.0" xyz="0.0 -0.0229 0.0"/>
    <axis xyz="0 0 1"/>
    <parent link="rightPinkyPitch2Link"/>
    <child link="rightPinkyPitch3Link"/>
    <limit effort="10" lower="0.0" upper="1.92" velocity="1"/>
    <controller_gains Kd="0.0" Ki="0.0" Kp="5.0"/>
    <mimic joint="rightPinkyPitch1" multiplier="0.668" offset="0"/>
    <dynamics damping="0.5" friction="0.5"/>
  </joint>
  <gazebo reference="rightPinkyPitch3">
    <provideFeedback>1</provideFeedback>
    <implicitSpringDamper>1</implicitSpringDamper>
  </gazebo>
  <transmission name="rightIndexFingerPitch1Transmission">
    <type>transmission_interface/SimpleTransmission</type>
    <joint name="rightIndexFingerPitch1">
      <hardwareInterface>PositionJointInterface</hardwareInterface>
    </joint>
    <actuator name="rightIndexPitch1Actuator">
      <node name="/right_arm/forearm_sensors/index"/>
      <mechanicalReduction>-1</mechanicalReduction>
      <api name="robot_hardware_interface/TurbodriverFingerProx"/>
    </actuator>
  </transmission>
  <transmission name="rightIndexFingerPitch2Transmission">
    <type>transmission_interface/SimpleTransmission</type>
    <joint name="rightIndexFingerPitch2">
      <hardwareInterface>PositionJointInterface</hardwareInterface>
    </joint>
    <actuator name="rightIndexPitch2Actuator">
      <node name="/right_arm/forearm_sensors/index"/>
      <mechanicalReduction>-1</mechanicalReduction>
      <api name="robot_hardware_interface/TurbodriverFingerMed"/>
    </actuator>
  </transmission>
  <transmission name="rightIndexFingerPitch3Transmission">
    <type>transmission_interface/SimpleTransmission</type>
    <joint name="rightIndexFingerPitch3">
      <hardwareInterface>PositionJointInterface</hardwareInterface>
    </joint>
    <actuator name="rightIndexPitch3Actuator">
      <node name="/right_arm/forearm_sensors/index"/>
      <mechanicalReduction>-1</mechanicalReduction>
      <api name="robot_hardware_interface/TurbodriverFingerDis"/>
    </actuator>
  </transmission>
  <transmission name="rightMiddleFingerPitch1Transmission">
    <type>transmission_interface/SimpleTransmission</type>
    <joint name="rightMiddleFingerPitch1">
      <hardwareInterface>PositionJointInterface</hardwareInterface>
    </joint>
    <actuator name="rightMiddlePitch1Actuator">
      <node name="/right_arm/forearm_sensors/middle"/>
      <mechanicalReduction>-1</mechanicalReduction>
      <api name="robot_hardware_interface/TurbodriverFingerProx"/>
    </actuator>
  </transmission>
  <transmission name="rightMiddleFingerPitch2Transmission">
    <type>transmission_interface/SimpleTransmission</type>
    <joint name="rightMiddleFingerPitch2">
      <hardwareInterface>PositionJointInterface</hardwareInterface>
    </joint>
    <actuator name="rightMiddlePitch2Actuator">
      <node name="/right_arm/forearm_sensors/middle"/>
      <mechanicalReduction>-1</mechanicalReduction>
      <api name="robot_hardware_interface/TurbodriverFingerMed"/>
    </actuator>
  </transmission>
  <transmission name="rightMiddleFingerPitch3Transmission">
    <type>transmission_interface/SimpleTransmission</type>
    <joint name="rightMiddleFingerPitch3">
      <hardwareInterface>PositionJointInterface</hardwareInterface>
    </joint>
    <actuator name="rightMiddlePitch3Actuator">
      <node name="/right_arm/forearm_sensors/middle"/>
      <mechanicalReduction>-1</mechanicalReduction>
      <api name="robot_hardware_interface/TurbodriverFingerDis"/>
    </actuator>
  </transmission>
  <transmission name="rightPinkyPitch1Transmission">
    <type>transmission_interface/SimpleTransmission</type>
    <joint name="rightPinkyPitch1">
      <hardwareInterface>PositionJointInterface</hardwareInterface>
    </joint>
    <actuator name="rightPinkyPitch1Actuator">
      <node name="/right_arm/forearm_sensors/pinky"/>
      <mechanicalReduction>-1</mechanicalReduction>
      <api name="robot_hardware_interface/TurbodriverFingerProx"/>
    </actuator>
  </transmission>
  <transmission name="rightPinkyPitch2Transmission">
    <type>transmission_interface/SimpleTransmission</type>
    <joint name="rightPinkyPitch2">
      <hardwareInterface>PositionJointInterface</hardwareInterface>
    </joint>
    <actuator name="rightPinkyPitch2Actuator">
      <node name="/right_arm/forearm_sensors/pinky"/>
      <mechanicalReduction>-1</mechanicalReduction>
      <api name="robot_hardware_interface/TurbodriverFingerMed"/>
    </actuator>
  </transmission>
  <transmission name="rightPinkyPitch3Transmission">
    <type>transmission_interface/SimpleTransmission</type>
    <joint name="rightPinkyPitch3">
      <hardwareInterface>PositionJointInterface</hardwareInterface>
    </joint>
    <actuator name="rightPinkyPitch3Actuator">
      <node name="/right_arm/forearm_sensors/pinky"/>
      <mechanicalReduction>-1</mechanicalReduction>
      <api name="robot_hardware_interface/TurbodriverFingerDis"/>
    </actuator>
  </transmission>
  <transmission name="rightThumbRollTransmission">
    <type>transmission_interface/SimpleTransmission</type>
    <joint name="rightThumbRoll">
      <hardwareInterface>PositionJointInterface</hardwareInterface>
    </joint>
    <actuator name="rightThumbRollActuator">
      <node name="/right_arm/forearm_sensors/thumb"/>
      <mechanicalReduction>1</mechanicalReduction>
      <api name="robot_hardware_interface/TurbodriverFingerRoll"/>
    </actuator>
  </transmission>
  <transmission name="rightThumbPitch1Transmission">
    <type>transmission_interface/SimpleTransmission</type>
    <joint name="rightThumbPitch1">
      <hardwareInterface>PositionJointInterface</hardwareInterface>
    </joint>
    <actuator name="rightThumbPitch1Actuator">
      <node name="/right_arm/forearm_sensors/thumb"/>
      <mechanicalReduction>-1</mechanicalReduction>
      <api name="robot_hardware_interface/TurbodriverFingerProx"/>
    </actuator>
  </transmission>
  <transmission name="rightThumbPitch2Transmission">
    <type>transmission_interface/SimpleTransmission</type>
    <joint name="rightThumbPitch2">
      <hardwareInterface>PositionJointInterface</hardwareInterface>
    </joint>
    <actuator name="rightThumbPitch2Actuator">
      <node name="/right_arm/forearm_sensors/thumb"/>
      <mechanicalReduction>-1</mechanicalReduction>
      <api name="robot_hardware_interface/TurbodriverFingerMed"/>
    </actuator>
  </transmission>
  <transmission name="rightThumbPitch3Transmission">
    <type>transmission_interface/SimpleTransmission</type>
    <joint name="rightThumbPitch3">
      <hardwareInterface>PositionJointInterface</hardwareInterface>
    </joint>
    <actuator name="rightThumbPitch3Actuator">
      <node name="/right_arm/forearm_sensors/thumb"/>
      <mechanicalReduction>-1</mechanicalReduction>
      <api name="robot_hardware_interface/TurbodriverFingerDis"/>
    </actuator>
  </transmission>
  <link name="leftShoulderPitchLink">
    <inertial>
      <mass value="2.65"/>
      <origin rpy="0 0 0" xyz="-0.012 0.251 0.000000"/>
      <inertia ixx="0.013718167" ixy="0.0" ixz="0.0" iyy="0.010502833" iyz="0.0" izz="0.014806433"/>
    </inertial>
    <visual>
      <geometry>
        <mesh filename="package://val_description/model/meshes/arms/aj1_left.dae"/>
      </geometry>
      <origin rpy="0.0 0.0 0.0" xyz="0.0 0.0 0.0"/>
    </visual>
    <collision>
      <geometry>
        <mesh filename="package://val_description/model/meshes/arms/aj1_left.dae"/>
      </geometry>
      <origin rpy="0 0 0" xyz="0 0 0"/>
    </collision>
  </link>
  <link name="leftShoulderRollLink">
    <inertial>
      <mass value="3.97"/>
      <origin rpy="0 0 0" xyz="-0.008513 0.02068 -0.001088"/>
      <inertia ixx="0.014598842" ixy="-0.00066764" ixz="-3.629e-05" iyy="0.006452136" iyz="-8.283e-05" izz="0.016848319"/>
    </inertial>
    <visual>
      <geometry>
        <mesh filename="package://val_description/model/meshes/arms/aj2_left.dae"/>
      </geometry>
      <origin rpy="0.0 0.0 0.0" xyz="0.0 0.0 0.0"/>
    </visual>
    <collision>
      <geometry>
        <mesh filename="package://val_description/model/meshes/arms/aj2_left.dae"/>
      </geometry>
      <origin rpy="0 0 0" xyz="0 0 0"/>
    </collision>
  </link>
  <link name="leftShoulderYawLink">
    <inertial>
      <mass value="3.085"/>
      <origin rpy="0 0 0" xyz="-0.004304 0.209832 0.007295"/>
      <inertia ixx="0.039355177" ixy="-0.007827077" ixz="-0.000753947" iyy="0.004905765" iyz="0.002723873" izz="0.041879481"/>
    </inertial>
    <visual>
      <geometry>
        <mesh filename="package://val_description/model/meshes/arms/aj3_left.dae"/>
      </geometry>
      <origin rpy="0.0 0.0 0.0" xyz="0.0 0.0 0.0"/>
    </visual>
    <collision>
      <geometry>
        <mesh filename="package://val_description/model/meshes/arms/aj3_left.dae"/>
      </geometry>
      <origin rpy="0 0 0" xyz="0 0 0"/>
    </collision>
  </link>
  <link name="leftElbowPitchLink">
    <inertial>
      <mass value="1.83"/>
      <origin rpy="0 0 0" xyz="-0.020344 0.014722 0.0223"/>
      <inertia ixx="0.003314516" ixy="0.000535099" ixz="0.000728077" iyy="0.003505669" iyz="-0.000423865" izz="0.003011283"/>
    </inertial>
    <visual>
      <geometry>
        <mesh filename="package://val_description/model/meshes/arms/aj4_left.dae"/>
      </geometry>
      <origin rpy="0.0 0.0 0.0" xyz="0.0 0.0 0.0"/>
    </visual>
    <collision>
      <geometry>
        <mesh filename="package://val_description/model/meshes/arms/aj4_left.dae"/>
      </geometry>
      <origin rpy="0 0 0" xyz="0 0 0"/>
    </collision>
  </link>
  <joint name="leftShoulderPitch" type="revolute">
    <origin rpy="0.0 0.0 0.0" xyz="-0.0316 0.0 0.2984"/>
    <axis xyz="0 1 0"/>
    <parent link="torso"/>
    <child link="leftShoulderPitchLink"/>
    <limit effort="190" lower="-2.85" upper="2.00" velocity="3"/>
    <controller_gains Kd="0.0" Ki="0.0" Kp="0.0"/>
    <dynamics damping="0.1" friction="0.0"/>
  </joint>
  <gazebo reference="leftShoulderPitch">
    <provideFeedback>1</provideFeedback>
    <implicitSpringDamper>1</implicitSpringDamper>
  </gazebo>
  <joint name="leftShoulderRoll" type="revolute">
    <origin rpy="0.0 0.0 0.0" xyz="0.0 0.2499 0.0"/>
    <axis xyz="1 0 0"/>
    <parent link="leftShoulderPitchLink"/>
    <child link="leftShoulderRollLink"/>
    <limit effort="350" lower="-1.519" upper="1.266" velocity="3.5"/>
    <controller_gains Kd="0.0" Ki="0.0" Kp="0.0"/>
    <dynamics damping="0.1" friction="0.0"/>
  </joint>
  <gazebo reference="leftShoulderRoll">
    <provideFeedback>1</provideFeedback>
    <implicitSpringDamper>1</implicitSpringDamper>
  </gazebo>
  <joint name="leftShoulderYaw" type="revolute">
    <origin rpy="0.0 0.0 0.0" xyz="0.0 0.0 0.0"/>
    <axis xyz="0 1 0"/>
    <parent link="leftShoulderRollLink"/>
    <child link="leftShoulderYawLink"/>
    <limit effort="65" lower="-3.10" upper="2.18" velocity="1.5"/>
    <controller_gains Kd="0.0" Ki="0.0" Kp="0.0"/>
    <dynamics damping="0.1" friction="0.0"/>
  </joint>
  <gazebo reference="leftShoulderYaw">
    <provideFeedback>1</provideFeedback>
    <implicitSpringDamper>1</implicitSpringDamper>
  </gazebo>
  <joint name="leftElbowPitch" type="revolute">
    <origin rpy="0.0 0.0 0.0" xyz="0.0254 0.33 0.0"/>
    <axis xyz="0 0 1"/>
    <parent link="leftShoulderYawLink"/>
    <child link="leftElbowPitchLink"/>
    <limit effort="65" lower="-2.174" upper="0.12" velocity="3.5"/>
    <controller_gains Kd="0.0" Ki="0.0" Kp="0.0"/>
    <dynamics damping="0.1" friction="0.0"/>
  </joint>
  <gazebo reference="leftElbowPitch">
    <provideFeedback>1</provideFeedback>
    <implicitSpringDamper>1</implicitSpringDamper>
  </gazebo>
  <link name="leftForearmLink">
    <inertial>
      <mass value="2.476"/>
      <origin rpy="0 0 0" xyz="0.015000 0.13 0.019564"/>
      <inertia ixx="0.01175543" ixy="0.001300853" ixz="-0.000727141" iyy="0.005071567" iyz="0.001695416" izz="0.011365657"/>
    </inertial>
    <visual>
      <geometry>
        <mesh filename="package://val_description/model/meshes/arms/aj5_left.dae"/>
      </geometry>
      <origin rpy="0.0 0.0 0.0" xyz="0.0 0.0 0.0"/>
    </visual>
    <collision>
      <geometry>
        <mesh filename="package://val_description/model/meshes/arms/aj5_left.dae"/>
      </geometry>
      <origin rpy="0 0 0" xyz="0 0 0"/>
    </collision>
  </link>
  <link name="leftWristRollLink">
    <inertial>
      <mass value="0.14"/>
      <origin rpy="0 0 0" xyz="0 0 0"/>
      <inertia ixx="3.0251e-05" ixy="1.25e-07" ixz="3.6e-08" iyy="3.772e-05" iyz="0.0" izz="9.395e-06"/>
    </inertial>
    <visual>
      <geometry>
        <mesh filename="package://val_description/model/meshes/arms/aj6_left.dae"/>
      </geometry>
      <origin rpy="0.0 0.0 0.0" xyz="0.0 0.0 0.0"/>
    </visual>
    <collision>
      <geometry>
        <mesh filename="package://val_description/model/meshes/arms/aj6_left.dae"/>
      </geometry>
      <origin rpy="0 0 0" xyz="0 0 0"/>
    </collision>
  </link>
  <link name="leftPalm">
    <inertial>
      <mass value="0.712"/>
      <origin rpy="0 0 0" xyz="0.002954 0.052034 -0.000236"/>
      <inertia ixx="0.000943493" ixy="3.4393e-05" ixz="3.8828e-05" iyy="0.000711024" iyz="-2.3429e-05" izz="0.000610199"/>
    </inertial>
    <visual>
      <geometry>
        <mesh filename="package://val_description/model/meshes/arms/palm_left.dae"/>
      </geometry>
      <origin rpy="0.0 0.0 0.0" xyz="0.0 0.0 0.0"/>
    </visual>
    <collision>
      <geometry>
        <mesh filename="package://val_description/model/meshes/arms/palm_left.dae"/>
      </geometry>
      <origin rpy="0 0 0" xyz="0 0 0"/>
    </collision>
  </link>
  <gazebo reference="leftPalm">
    <kp>1e5</kp>
    <kd>1</kd>
    <maxVel>0.1</maxVel>
    <minDepth>0.0015</minDepth>
  </gazebo>
  <joint name="leftForearmYaw" type="revolute">
    <origin rpy="0.0 0.0 0.0" xyz="-0.0254 0 0"/>
    <axis xyz="0 1 0"/>
    <parent link="leftElbowPitchLink"/>
    <child link="leftForearmLink"/>
    <limit effort="26" lower="-2.019" upper="3.14" velocity="0.8"/>
    <controller_gains Kd="0.0" Ki="0.0" Kp="1000"/>
    <dynamics damping="0.1" friction="0.0"/>
  </joint>
  <gazebo reference="leftForearmYaw">
    <provideFeedback>1</provideFeedback>
    <implicitSpringDamper>1</implicitSpringDamper>
  </gazebo>
  <joint name="leftWristRoll" type="revolute">
    <origin rpy="0.0 0.0 0.0" xyz="0.0 0.2871 0.0"/>
    <axis xyz="1 0 0"/>
    <parent link="leftForearmLink"/>
    <child link="leftWristRollLink"/>
    <limit effort="14" lower="-0.35" upper="0.35" velocity="1"/>
    <controller_gains Kd="0" Ki="0.0" Kp="500"/>
    <dynamics damping="0.1" friction="0.0"/>
  </joint>
  <gazebo reference="leftWristRoll">
    <provideFeedback>1</provideFeedback>
    <implicitSpringDamper>1</implicitSpringDamper>
  </gazebo>
  <joint name="leftWristPitch" type="revolute">
    <origin rpy="0.0 0.0 0.0" xyz="0.0 0.0 0.0"/>
    <axis xyz="0 0 1"/>
    <parent link="leftWristRollLink"/>
    <child link="leftPalm"/>
    <limit effort="14" lower="-0.6" upper="0.6" velocity="1"/>
    <controller_gains Kd="0" Ki="0.0" Kp="500"/>
    <dynamics damping="0.1" friction="0.0"/>
  </joint>
  <gazebo reference="leftWristPitch">
    <provideFeedback>1</provideFeedback>
    <implicitSpringDamper>1</implicitSpringDamper>
  </gazebo>
  <transmission name="leftShoulderPitchTransmission">
    <type>transmission_interface/SimpleTransmission</type>
    <joint name="leftShoulderPitch">
      <hardwareInterface>EffortJointInterface</hardwareInterface>
    </joint>
    <actuator name="leftShoulderPitch">
      <node name="/trunk/left_arm_j1"/>
      <mechanicalReduction>1</mechanicalReduction>
      <api name="robot_hardware_interface/TurbodriverAPI"/>
    </actuator>
  </transmission>
  <transmission name="leftShoulderRollTransmission">
    <type>transmission_interface/SimpleTransmission</type>
    <joint name="leftShoulderRoll">
      <hardwareInterface>EffortJointInterface</hardwareInterface>
    </joint>
    <actuator name="leftShoulderRoll">
      <node name="/left_arm/j2"/>
      <mechanicalReduction>1</mechanicalReduction>
      <api name="robot_hardware_interface/TurbodriverAPI"/>
    </actuator>
  </transmission>
  <transmission name="leftShoulderYawTransmission">
    <type>transmission_interface/SimpleTransmission</type>
    <joint name="leftShoulderYaw">
      <hardwareInterface>EffortJointInterface</hardwareInterface>
    </joint>
    <actuator name="leftShoulderYaw">
      <node name="/left_arm/j3"/>
      <mechanicalReduction>1</mechanicalReduction>
      <api name="robot_hardware_interface/TurbodriverAPI"/>
    </actuator>
  </transmission>
  <transmission name="leftElbowPitchTransmission">
    <type>transmission_interface/SimpleTransmission</type>
    <joint name="leftElbowPitch">
      <hardwareInterface>EffortJointInterface</hardwareInterface>
    </joint>
    <actuator name="leftElbowPitch">
      <node name="/left_arm/j4"/>
      <mechanicalReduction>1</mechanicalReduction>
      <api name="robot_hardware_interface/TurbodriverAPI"/>
    </actuator>
  </transmission>
  <transmission name="leftForearmYawTransmission">
    <type>transmission_interface/SimpleTransmission</type>
    <joint name="leftForearmYaw">
      <hardwareInterface>EffortJointInterface</hardwareInterface>
    </joint>
    <actuator name="leftForearmYaw">
      <node name="/left_arm/j5"/>
      <mechanicalReduction>1</mechanicalReduction>
      <api name="robot_hardware_interface/TurbodriverAPI"/>
    </actuator>
  </transmission>
  <transmission name="leftWristTransmission">
    <type>robot_transmission_interface/WristPushrodTransmission</type>
    <joint name="leftWristPitch">
      <role>pitch</role>
      <hardwareInterface>EffortJointInterface</hardwareInterface>
    </joint>
    <joint name="leftWristRoll">
      <role>roll</role>
      <hardwareInterface>EffortJointInterface</hardwareInterface>
    </joint>
    <actuator name="leftWristRightActuator">
      <node name="/left_arm/wrist/right_actuator"/>
      <role>bottom</role>
      <mechanicalReduction>1</mechanicalReduction>
      <api name="robot_hardware_interface::TurbodriverLinearFutekJointVelocity"/>
    </actuator>
    <actuator name="leftWristLeftActuator">
      <node name="/left_arm/wrist/left_actuator"/>
      <role>top</role>
      <mechanicalReduction>1</mechanicalReduction>
      <api name="robot_hardware_interface::TurbodriverLinearFutekJointVelocity"/>
    </actuator>
  </transmission>
  <transmission name="leftIndexFingerMotorPitch1Transmission">
    <type>transmission_interface/SimpleTransmission</type>
    <joint name="leftIndexFingerMotorPitch1">
      <hardwareInterface>EffortJointInterface</hardwareInterface>
    </joint>
    <actuator name="leftIndexFingerMotorPitch1">
      <node name="/left_arm/hand/index"/>
      <mechanicalReduction>1</mechanicalReduction>
      <api name="robot_hardware_interface/TurbodriverAPI"/>
    </actuator>
  </transmission>
  <transmission name="leftMiddleFingerMotorPitch1Transmission">
    <type>transmission_interface/SimpleTransmission</type>
    <joint name="leftMiddleFingerMotorPitch1">
      <hardwareInterface>EffortJointInterface</hardwareInterface>
    </joint>
    <actuator name="leftMiddleFingerMotorPitch1">
      <node name="/left_arm/hand/middle"/>
      <mechanicalReduction>1</mechanicalReduction>
      <api name="robot_hardware_interface/TurbodriverAPI"/>
    </actuator>
  </transmission>
  <transmission name="leftPinkyMotorPitch1Transmission">
    <type>transmission_interface/SimpleTransmission</type>
    <joint name="leftPinkyMotorPitch1">
      <hardwareInterface>EffortJointInterface</hardwareInterface>
    </joint>
    <actuator name="leftPinkyMotorPitch1">
      <node name="/left_arm/hand/pinky"/>
      <mechanicalReduction>1</mechanicalReduction>
      <api name="robot_hardware_interface/TurbodriverAPI"/>
    </actuator>
  </transmission>
  <transmission name="leftThumbMotorRollTransmission">
    <type>transmission_interface/SimpleTransmission</type>
    <joint name="leftThumbMotorRoll">
      <hardwareInterface>EffortJointInterface</hardwareInterface>
    </joint>
    <actuator name="leftThumbMotorRoll">
      <node name="/left_arm/hand/thumb_roll"/>
      <mechanicalReduction>1</mechanicalReduction>
      <api name="robot_hardware_interface/TurbodriverAPI"/>
    </actuator>
  </transmission>
  <transmission name="leftThumbMotorPitch1Transmission">
    <type>transmission_interface/SimpleTransmission</type>
    <joint name="leftThumbMotorPitch1">
      <hardwareInterface>EffortJointInterface</hardwareInterface>
    </joint>
    <actuator name="leftThumbMotorPitch1">
      <node name="/left_arm/hand/thumb_proximal"/>
      <mechanicalReduction>1</mechanicalReduction>
      <api name="robot_hardware_interface/TurbodriverAPI"/>
    </actuator>
  </transmission>
  <transmission name="leftThumbMotorPitch2Transmission">
    <type>transmission_interface/SimpleTransmission</type>
    <joint name="leftThumbMotorPitch2">
      <hardwareInterface>EffortJointInterface</hardwareInterface>
    </joint>
    <actuator name="leftThumbMotorPitch2">
      <node name="/left_arm/hand/thumb_distal"/>
      <mechanicalReduction>1</mechanicalReduction>
      <api name="robot_hardware_interface/TurbodriverAPI"/>
    </actuator>
  </transmission>
  <link name="leftThumbRollLink">
    <inertial>
      <mass value="0.017"/>
      <origin rpy="0 0 0" xyz="0 0 0.01"/>
      <inertia ixx="2.7778767e-06" ixy="5.6718533e-09" ixz="9.5523207e-08" iyy="3.5462642e-06" iyz="-3.663718e-08" izz="1.3553297e-06"/>
    </inertial>
    <visual>
      <geometry>
        <mesh filename="package://val_description/model/meshes/fingers/thumbj1_left.dae"/>
      </geometry>
      <origin rpy="0.0 0.0 0.0" xyz="0.0 0.0 0.0"/>
    </visual>
    <collision>
      <geometry>
        <mesh filename="package://val_description/model/meshes/fingers/thumbj1_left.dae"/>
      </geometry>
      <origin rpy="0 0 0" xyz="0 0 0"/>
    </collision>
  </link>
  <gazebo reference="leftThumbRollLink">
    <kp>1e5</kp>
    <kd>1</kd>
    <maxVel>0.1</maxVel>
    <minDepth>0.0015</minDepth>
  </gazebo>
  <link name="leftThumbPitch1Link">
    <inertial>
      <mass value="0.02"/>
      <origin rpy="0 0 0" xyz="0.0 0.005 0.02"/>
      <inertia ixx="4.239e-06" ixy="0.0" ixz="0.0" iyy="4.582e-06" iyz="-0.0" izz="1.47e-06"/>
    </inertial>
    <visual>
      <geometry>
        <mesh filename="package://val_description/model/meshes/fingers/thumbj2_left.dae"/>
      </geometry>
      <origin rpy="0.0 0.0 0.0" xyz="0.0 0.0 0.0"/>
    </visual>
    <collision>
      <geometry>
        <mesh filename="package://val_description/model/meshes/fingers/thumbj2_left.dae"/>
      </geometry>
      <origin rpy="0 0 0" xyz="0 0 0"/>
    </collision>
  </link>
  <gazebo reference="leftThumbPitch1Link">
    <kp>1e5</kp>
    <kd>1</kd>
    <maxVel>0.1</maxVel>
    <minDepth>0.0015</minDepth>
  </gazebo>
  <link name="leftThumbPitch2Link">
    <inertial>
      <mass value="0.013"/>
      <origin rpy="0 0 0" xyz="0 0.004 0.017"/>
      <inertia ixx="1.266e-06" ixy="0.0" ixz="0.0" iyy="1.503e-06" iyz="0.0" izz="6.99e-07"/>
    </inertial>
    <visual>
      <geometry>
        <mesh filename="package://val_description/model/meshes/fingers/thumbj3_left.dae"/>
      </geometry>
      <origin rpy="0.0 0.0 0.0" xyz="0.0 0.0 0.0"/>
    </visual>
    <collision>
      <geometry>
        <mesh filename="package://val_description/model/meshes/fingers/thumbj3_left.dae"/>
      </geometry>
      <origin rpy="0 0 0" xyz="0 0 0"/>
    </collision>
  </link>
  <gazebo reference="leftThumbPitch2Link">
    <kp>1e5</kp>
    <kd>1</kd>
    <maxVel>0.1</maxVel>
    <minDepth>0.0015</minDepth>
  </gazebo>
  <link name="leftThumbPitch3Link">
    <inertial>
      <mass value="0.006"/>
      <origin rpy="0 0 0" xyz="0 0.004 0.01"/>
      <inertia ixx="3.22e-07" ixy="0.0" ixz="0.0" iyy="4.06e-07" iyz="0.0" izz="2.1e-07"/>
    </inertial>
    <visual>
      <geometry>
        <mesh filename="package://val_description/model/meshes/fingers/thumbj4_left.dae"/>
      </geometry>
      <origin rpy="0.0 0.0 0.0" xyz="0.0 0.0 0.0"/>
    </visual>
    <collision>
      <geometry>
        <mesh filename="package://val_description/model/meshes/fingers/thumbj4_left.dae"/>
      </geometry>
      <origin rpy="0 0 0" xyz="0 0 0"/>
    </collision>
  </link>
  <gazebo reference="leftThumbPitch3Link">
    <kp>1e5</kp>
    <kd>1</kd>
    <maxVel>0.1</maxVel>
    <minDepth>0.0015</minDepth>
  </gazebo>
  <joint name="leftThumbRoll" type="revolute">
    <origin rpy="-0.3491 0.0 0.0" xyz="0.0049 0.0351 0.0228"/>
    <axis xyz="0 1 0"/>
    <parent link="leftPalm"/>
    <child link="leftThumbRollLink"/>
    <limit effort="10" lower="0.0" upper="2.356" velocity="1"/>
    <controller_gains Kd="0.0" Ki="0.0" Kp="5.0"/>
    <dynamics damping="0.5" friction="0.5"/>
  </joint>
  <gazebo reference="leftThumbRoll">
    <provideFeedback>1</provideFeedback>
    <implicitSpringDamper>1</implicitSpringDamper>
  </gazebo>
  <joint name="leftThumbPitch1" type="revolute">
    <origin rpy="0.3491 0.0 0.0" xyz="0.0 0.0 0.0229"/>
    <axis xyz="1 0 0"/>
    <parent link="leftThumbRollLink"/>
    <child link="leftThumbPitch1Link"/>
    <limit effort="10" lower="-1.658" upper="-0.0" velocity="1"/>
    <controller_gains Kd="0.0" Ki="0.0" Kp="5.0"/>
    <dynamics damping="0.5" friction="0.5"/>
  </joint>
  <gazebo reference="leftThumbPitch1">
    <provideFeedback>1</provideFeedback>
    <implicitSpringDamper>1</implicitSpringDamper>
  </gazebo>
  <joint name="leftThumbPitch2" type="revolute">
    <origin rpy="0.0 0.0 0.0" xyz="0.0 0.0066 0.0375"/>
    <axis xyz="1 0 0"/>
    <parent link="leftThumbPitch1Link"/>
    <child link="leftThumbPitch2Link"/>
    <limit effort="10" lower="-1.92" upper="-0.0" velocity="1"/>
    <controller_gains Kd="0.0" Ki="0.0" Kp="5.0"/>
    <mimic joint="leftThumbPitch1" multiplier="0.835" offset="0"/>
    <dynamics damping="0.5" friction="0.5"/>
  </joint>
  <gazebo reference="leftThumbPitch2">
    <provideFeedback>1</provideFeedback>
    <implicitSpringDamper>1</implicitSpringDamper>
  </gazebo>
  <joint name="leftThumbPitch3" type="revolute">
    <origin rpy="0.0 0.0 0.0" xyz="0.0 0.0049 0.0275"/>
    <axis xyz="1 0 0"/>
    <parent link="leftThumbPitch2Link"/>
    <child link="leftThumbPitch3Link"/>
    <limit effort="10" lower="-1.57" upper="-0.0" velocity="1"/>
    <controller_gains Kd="0.0" Ki="0.0" Kp="5.0"/>
    <mimic joint="leftThumbPitch1" multiplier="0.668" offset="0"/>
    <dynamics damping="0.5" friction="0.5"/>
  </joint>
  <gazebo reference="leftThumbPitch3">
    <provideFeedback>1</provideFeedback>
    <implicitSpringDamper>1</implicitSpringDamper>
  </gazebo>
  <link name="leftIndexFingerPitch1Link">
    <inertial>
      <mass value="0.02"/>
      <origin rpy="0 0 0" xyz="0 0.02 0"/>
      <inertia ixx="4.232e-06" ixy="6e-08" ixz="8e-09" iyy="1.215e-06" iyz="-7e-09" izz="3.892e-06"/>
    </inertial>
    <visual>
      <geometry>
        <mesh filename="package://val_description/model/meshes/fingers/indexj1_left.dae"/>
      </geometry>
      <origin rpy="0.0 0.0 0.0" xyz="0.0 0.0 0.0"/>
    </visual>
    <collision>
      <geometry>
        <mesh filename="package://val_description/model/meshes/fingers/indexj1_left.dae"/>
      </geometry>
      <origin rpy="0 0 0" xyz="0 0 0"/>
    </collision>
  </link>
  <gazebo reference="leftIndexFingerPitch1Link">
    <kp>1e5</kp>
    <kd>1</kd>
    <maxVel>0.1</maxVel>
    <minDepth>0.0015</minDepth>
  </gazebo>
  <link name="leftIndexFingerPitch2Link">
    <inertial>
      <mass value="0.018"/>
      <origin rpy="0 0 0" xyz="0 0.013 0"/>
      <inertia ixx="1.562e-06" ixy="1.7e-08" ixz="1.3e-08" iyy="7.22e-07" iyz="3.1e-08" izz="1.255e-06"/>
    </inertial>
    <visual>
      <geometry>
        <mesh filename="package://val_description/model/meshes/fingers/indexj2_left.dae"/>
      </geometry>
      <origin rpy="0.0 0.0 0.0" xyz="0.0 0.0 0.0"/>
    </visual>
    <collision>
      <geometry>
        <mesh filename="package://val_description/model/meshes/fingers/indexj2_left.dae"/>
      </geometry>
      <origin rpy="0 0 0" xyz="0 0 0"/>
    </collision>
  </link>
  <gazebo reference="leftIndexFingerPitch2Link">
    <kp>1e5</kp>
    <kd>1</kd>
    <maxVel>0.1</maxVel>
    <minDepth>0.0015</minDepth>
  </gazebo>
  <link name="leftIndexFingerPitch3Link">
    <inertial>
      <mass value="0.01"/>
      <origin rpy="0 0 0" xyz="0 0.01 0"/>
      <inertia ixx="6.02e-07" ixy="2.4e-08" ixz="-0.0" iyy="2.09e-07" iyz="1.7e-08" izz="5.02e-07"/>
    </inertial>
    <visual>
      <geometry>
        <mesh filename="package://val_description/model/meshes/fingers/indexj3_left.dae"/>
      </geometry>
      <origin rpy="0.0 0.0 0.0" xyz="0.0 0.0 0.0"/>
    </visual>
    <collision>
      <geometry>
        <mesh filename="package://val_description/model/meshes/fingers/indexj3_left.dae"/>
      </geometry>
      <origin rpy="0 0 0" xyz="0 0 0"/>
    </collision>
  </link>
  <gazebo reference="leftIndexFingerPitch3Link">
    <kp>1e5</kp>
    <kd>1</kd>
    <maxVel>0.1</maxVel>
    <minDepth>0.0015</minDepth>
  </gazebo>
  <joint name="leftIndexFingerPitch1" type="revolute">
    <origin rpy="-0.02 0.0 0.0" xyz="0.0022 0.0976 0.017"/>
    <axis xyz="0 0 1"/>
    <parent link="leftPalm"/>
    <child link="leftIndexFingerPitch1Link"/>
    <limit effort="10" lower="-1.57" upper="-0.0" velocity="1"/>
    <controller_gains Kd="0.0" Ki="0.0" Kp="5.0"/>
    <dynamics damping="0.5" friction="0.5"/>
  </joint>
  <gazebo reference="leftIndexFingerPitch1">
    <provideFeedback>1</provideFeedback>
    <implicitSpringDamper>1</implicitSpringDamper>
  </gazebo>
  <joint name="leftIndexFingerPitch2" type="revolute">
    <origin rpy="0.0 0.0 0.0" xyz="0.0 0.0381 0.0"/>
    <axis xyz="0 0 1"/>
    <parent link="leftIndexFingerPitch1Link"/>
    <child link="leftIndexFingerPitch2Link"/>
    <limit effort="10" lower="-1.658" upper="-0.0" velocity="1"/>
    <controller_gains Kd="0.0" Ki="0.0" Kp="5.0"/>
    <mimic joint="leftIndexFingerPitch1" multiplier="0.835" offset="0"/>
    <dynamics damping="0.5" friction="0.5"/>
  </joint>
  <gazebo reference="leftIndexFingerPitch2">
    <provideFeedback>1</provideFeedback>
    <implicitSpringDamper>1</implicitSpringDamper>
  </gazebo>
  <joint name="leftIndexFingerPitch3" type="revolute">
    <origin rpy="0.0 0.0 0.0" xyz="0.0 0.0229 0"/>
    <axis xyz="0 0 1"/>
    <parent link="leftIndexFingerPitch2Link"/>
    <child link="leftIndexFingerPitch3Link"/>
    <limit effort="10" lower="-1.92" upper="-0.0" velocity="1"/>
    <controller_gains Kd="0.0" Ki="0.0" Kp="5.0"/>
    <mimic joint="leftIndexFingerPitch1" multiplier="0.668" offset="0"/>
    <dynamics damping="0.5" friction="0.5"/>
  </joint>
  <gazebo reference="leftIndexFingerPitch3">
    <provideFeedback>1</provideFeedback>
    <implicitSpringDamper>1</implicitSpringDamper>
  </gazebo>
  <link name="leftMiddleFingerPitch1Link">
    <inertial>
      <mass value="0.02"/>
      <origin rpy="0 0 0" xyz="0 0.02 0"/>
      <inertia ixx="5.148e-06" ixy="4.2e-08" ixz="1.1e-08" iyy="1.322e-06" iyz="-4e-09" izz="4.592e-06"/>
    </inertial>
    <visual>
      <geometry>
        <mesh filename="package://val_description/model/meshes/fingers/middlej1_left.dae"/>
      </geometry>
      <origin rpy="0.0 0.0 0.0" xyz="0.0 0.0 0.0"/>
    </visual>
    <collision>
      <geometry>
        <mesh filename="package://val_description/model/meshes/fingers/middlej1_left.dae"/>
      </geometry>
      <origin rpy="0 0 0" xyz="0 0 0"/>
    </collision>
  </link>
  <gazebo reference="leftMiddleFingerPitch1Link">
    <kp>1e5</kp>
    <kd>1</kd>
    <maxVel>0.1</maxVel>
    <minDepth>0.0015</minDepth>
  </gazebo>
  <link name="leftMiddleFingerPitch2Link">
    <inertial>
      <mass value="0.011"/>
      <origin rpy="0 0 0" xyz="0 0.013 0"/>
      <inertia ixx="1.97e-06" ixy="-3.4e-08" ixz="1.1e-08" iyy="5.54e-07" iyz="-7.8e-08" izz="2.272e-06"/>
    </inertial>
    <visual>
      <geometry>
        <mesh filename="package://val_description/model/meshes/fingers/middlej2_left.dae"/>
      </geometry>
      <origin rpy="0.0 0.0 0.0" xyz="0.0 0.0 0.0"/>
    </visual>
    <collision>
      <geometry>
        <mesh filename="package://val_description/model/meshes/fingers/middlej2_left.dae"/>
      </geometry>
      <origin rpy="0 0 0" xyz="0 0 0"/>
    </collision>
  </link>
  <gazebo reference="leftMiddleFingerPitch2Link">
    <kp>1e5</kp>
    <kd>1</kd>
    <maxVel>0.1</maxVel>
    <minDepth>0.0015</minDepth>
  </gazebo>
  <link name="leftMiddleFingerPitch3Link">
    <inertial>
      <mass value="0.006"/>
      <origin rpy="0 0 0" xyz="0 0.01 0"/>
      <inertia ixx="3.96e-07" ixy="9e-09" ixz="1e-09" iyy="1.6e-07" iyz="1.6e-08" izz="3.03e-07"/>
    </inertial>
    <visual>
      <geometry>
        <mesh filename="package://val_description/model/meshes/fingers/middlej3_left.dae"/>
      </geometry>
      <origin rpy="0.0 0.0 0.0" xyz="0.0 0.0 0.0"/>
    </visual>
    <collision>
      <geometry>
        <mesh filename="package://val_description/model/meshes/fingers/middlej3_left.dae"/>
      </geometry>
      <origin rpy="0 0 0" xyz="0 0 0"/>
    </collision>
  </link>
  <gazebo reference="leftMiddleFingerPitch3Link">
    <kp>1e5</kp>
    <kd>1</kd>
    <maxVel>0.1</maxVel>
    <minDepth>0.0015</minDepth>
  </gazebo>
  <joint name="leftMiddleFingerPitch1" type="revolute">
    <origin rpy="-0.1222 0.0 0.0" xyz="0.0022 0.097 -0.0119"/>
    <axis xyz="0 0 1"/>
    <parent link="leftPalm"/>
    <child link="leftMiddleFingerPitch1Link"/>
    <limit effort="10" lower="-1.658" upper="-0.0" velocity="1"/>
    <controller_gains Kd="0.0" Ki="0.0" Kp="5.0"/>
    <dynamics damping="0.5" friction="0.5"/>
  </joint>
  <gazebo reference="leftMiddleFingerPitch1">
    <provideFeedback>1</provideFeedback>
    <implicitSpringDamper>1</implicitSpringDamper>
  </gazebo>
  <joint name="leftMiddleFingerPitch2" type="revolute">
    <origin rpy="0.0 0.0 0.0" xyz="0.0 0.0381 0.0"/>
    <axis xyz="0 0 1"/>
    <parent link="leftMiddleFingerPitch1Link"/>
    <child link="leftMiddleFingerPitch2Link"/>
    <limit effort="10" lower="-1.92" upper="-0.0" velocity="1"/>
    <controller_gains Kd="0.0" Ki="0.0" Kp="5.0"/>
    <mimic joint="leftMiddleFingerPitch1" multiplier="0.835" offset="0"/>
    <dynamics damping="0.5" friction="0.5"/>
  </joint>
  <gazebo reference="leftMiddleFingerPitch2">
    <provideFeedback>1</provideFeedback>
    <implicitSpringDamper>1</implicitSpringDamper>
  </gazebo>
  <joint name="leftMiddleFingerPitch3" type="revolute">
    <origin rpy="0.0 0.0 0.0" xyz="0.0 0.0229 0.0"/>
    <axis xyz="0 0 1"/>
    <parent link="leftMiddleFingerPitch2Link"/>
    <child link="leftMiddleFingerPitch3Link"/>
    <limit effort="10" lower="-1.57" upper="-0.0" velocity="1"/>
    <controller_gains Kd="0.0" Ki="0.0" Kp="5.0"/>
    <mimic joint="leftMiddleFingerPitch1" multiplier="0.668" offset="0"/>
    <dynamics damping="0.5" friction="0.5"/>
  </joint>
  <gazebo reference="leftMiddleFingerPitch3">
    <provideFeedback>1</provideFeedback>
    <implicitSpringDamper>1</implicitSpringDamper>
  </gazebo>
  <link name="leftPinkyPitch1Link">
    <inertial>
      <mass value="0.02"/>
      <origin rpy="0 0 0" xyz="0 0.02 0"/>
      <inertia ixx="5.148e-06" ixy="4.2e-08" ixz="1.1e-08" iyy="1.322e-06" iyz="-4e-09" izz="4.592e-06"/>
    </inertial>
    <visual>
      <geometry>
        <mesh filename="package://val_description/model/meshes/fingers/pinkyj1_left.dae"/>
      </geometry>
      <origin rpy="0.0 0.0 0.0" xyz="0.0 0.0 0.0"/>
    </visual>
    <collision>
      <geometry>
        <mesh filename="package://val_description/model/meshes/fingers/pinkyj1_left.dae"/>
      </geometry>
      <origin rpy="0 0 0" xyz="0 0 0"/>
    </collision>
  </link>
  <gazebo reference="leftPinkyPitch1Link">
    <kp>1e5</kp>
    <kd>1</kd>
    <maxVel>0.1</maxVel>
    <minDepth>0.0015</minDepth>
  </gazebo>
  <link name="leftPinkyPitch2Link">
    <inertial>
      <mass value="0.011"/>
      <origin rpy="0 0 0" xyz="0 0.013 0"/>
      <inertia ixx="1.97e-06" ixy="-3.4e-08" ixz="1.1e-08" iyy="5.54e-07" iyz="-7.8e-08" izz="2.272e-06"/>
    </inertial>
    <visual>
      <geometry>
        <mesh filename="package://val_description/model/meshes/fingers/pinkyj2_left.dae"/>
      </geometry>
      <origin rpy="0.0 0.0 0.0" xyz="0.0 0.0 0.0"/>
    </visual>
    <collision>
      <geometry>
        <mesh filename="package://val_description/model/meshes/fingers/pinkyj2_left.dae"/>
      </geometry>
      <origin rpy="0 0 0" xyz="0 0 0"/>
    </collision>
  </link>
  <gazebo reference="leftPinkyPitch2Link">
    <kp>1e5</kp>
    <kd>1</kd>
    <maxVel>0.1</maxVel>
    <minDepth>0.0015</minDepth>
  </gazebo>
  <link name="leftPinkyPitch3Link">
    <inertial>
      <mass value="0.006"/>
      <origin rpy="0 0 0" xyz="0 0.01 0"/>
      <inertia ixx="3.96e-07" ixy="9e-09" ixz="1e-09" iyy="1.6e-07" iyz="1.6e-08" izz="3.03e-07"/>
    </inertial>
    <visual>
      <geometry>
        <mesh filename="package://val_description/model/meshes/fingers/pinkyj3_left.dae"/>
      </geometry>
      <origin rpy="0.0 0.0 0.0" xyz="0.0 0.0 0.0"/>
    </visual>
    <collision>
      <geometry>
        <mesh filename="package://val_description/model/meshes/fingers/pinkyj3_left.dae"/>
      </geometry>
      <origin rpy="0 0 0" xyz="0 0 0"/>
    </collision>
  </link>
  <gazebo reference="leftPinkyPitch3Link">
    <kp>1e5</kp>
    <kd>1</kd>
    <maxVel>0.1</maxVel>
    <minDepth>0.0015</minDepth>
  </gazebo>
  <joint name="leftPinkyPitch1" type="revolute">
    <origin rpy="-0.22 0.0 0.0" xyz="0.0022 0.0838 -0.041"/>
    <axis xyz="0 0 1"/>
    <parent link="leftPalm"/>
    <child link="leftPinkyPitch1Link"/>
    <limit effort="10" lower="-1.57" upper="-0.0" velocity="1"/>
    <controller_gains Kd="0.0" Ki="0.0" Kp="5.0"/>
    <dynamics damping="0.5" friction="0.5"/>
  </joint>
  <gazebo reference="leftPinkyPitch1">
    <provideFeedback>1</provideFeedback>
    <implicitSpringDamper>1</implicitSpringDamper>
  </gazebo>
  <joint name="leftPinkyPitch2" type="revolute">
    <origin rpy="0.0 0.0 0.0" xyz="0.0 0.0381 0.0"/>
    <axis xyz="0 0 1"/>
    <parent link="leftPinkyPitch1Link"/>
    <child link="leftPinkyPitch2Link"/>
    <limit effort="10" lower="-1.658" upper="-0.0" velocity="1"/>
    <controller_gains Kd="0.0" Ki="0.0" Kp="5.0"/>
    <mimic joint="leftPinkyPitch1" multiplier="0.835" offset="0"/>
    <dynamics damping="0.5" friction="0.5"/>
  </joint>
  <gazebo reference="leftPinkyPitch2">
    <provideFeedback>1</provideFeedback>
    <implicitSpringDamper>1</implicitSpringDamper>
  </gazebo>
  <joint name="leftPinkyPitch3" type="revolute">
    <origin rpy="0.0 0.0 0.0" xyz="0.0 0.0229 0.0"/>
    <axis xyz="0 0 1"/>
    <parent link="leftPinkyPitch2Link"/>
    <child link="leftPinkyPitch3Link"/>
    <limit effort="10" lower="-1.92" upper="-0.0" velocity="1"/>
    <controller_gains Kd="0.0" Ki="0.0" Kp="5.0"/>
    <mimic joint="leftPinkyPitch1" multiplier="0.668" offset="0"/>
    <dynamics damping="0.5" friction="0.5"/>
  </joint>
  <gazebo reference="leftPinkyPitch3">
    <provideFeedback>1</provideFeedback>
    <implicitSpringDamper>1</implicitSpringDamper>
  </gazebo>
  <transmission name="leftIndexFingerPitch1Transmission">
    <type>transmission_interface/SimpleTransmission</type>
    <joint name="leftIndexFingerPitch1">
      <hardwareInterface>PositionJointInterface</hardwareInterface>
    </joint>
    <actuator name="leftIndexPitch1Actuator">
      <node name="/left_arm/forearm_sensors/index"/>
      <mechanicalReduction>1</mechanicalReduction>
      <api name="robot_hardware_interface/TurbodriverFingerProx"/>
    </actuator>
  </transmission>
  <transmission name="leftIndexFingerPitch2Transmission">
    <type>transmission_interface/SimpleTransmission</type>
    <joint name="leftIndexFingerPitch2">
      <hardwareInterface>PositionJointInterface</hardwareInterface>
    </joint>
    <actuator name="leftIndexPitch2Actuator">
      <node name="/left_arm/forearm_sensors/index"/>
      <mechanicalReduction>1</mechanicalReduction>
      <api name="robot_hardware_interface/TurbodriverFingerMed"/>
    </actuator>
  </transmission>
  <transmission name="leftIndexFingerPitch3Transmission">
    <type>transmission_interface/SimpleTransmission</type>
    <joint name="leftIndexFingerPitch3">
      <hardwareInterface>PositionJointInterface</hardwareInterface>
    </joint>
    <actuator name="leftIndexPitch3Actuator">
      <node name="/left_arm/forearm_sensors/index"/>
      <mechanicalReduction>1</mechanicalReduction>
      <api name="robot_hardware_interface/TurbodriverFingerDis"/>
    </actuator>
  </transmission>
  <transmission name="leftMiddleFingerPitch1Transmission">
    <type>transmission_interface/SimpleTransmission</type>
    <joint name="leftMiddleFingerPitch1">
      <hardwareInterface>PositionJointInterface</hardwareInterface>
    </joint>
    <actuator name="leftMiddlePitch1Actuator">
      <node name="/left_arm/forearm_sensors/middle"/>
      <mechanicalReduction>1</mechanicalReduction>
      <api name="robot_hardware_interface/TurbodriverFingerProx"/>
    </actuator>
  </transmission>
  <transmission name="leftMiddleFingerPitch2Transmission">
    <type>transmission_interface/SimpleTransmission</type>
    <joint name="leftMiddleFingerPitch2">
      <hardwareInterface>PositionJointInterface</hardwareInterface>
    </joint>
    <actuator name="leftMiddlePitch2Actuator">
      <node name="/left_arm/forearm_sensors/middle"/>
      <mechanicalReduction>1</mechanicalReduction>
      <api name="robot_hardware_interface/TurbodriverFingerMed"/>
    </actuator>
  </transmission>
  <transmission name="leftMiddleFingerPitch3Transmission">
    <type>transmission_interface/SimpleTransmission</type>
    <joint name="leftMiddleFingerPitch3">
      <hardwareInterface>PositionJointInterface</hardwareInterface>
    </joint>
    <actuator name="leftMiddlePitch3Actuator">
      <node name="/left_arm/forearm_sensors/middle"/>
      <mechanicalReduction>1</mechanicalReduction>
      <api name="robot_hardware_interface/TurbodriverFingerDis"/>
    </actuator>
  </transmission>
  <transmission name="leftPinkyPitch1Transmission">
    <type>transmission_interface/SimpleTransmission</type>
    <joint name="leftPinkyPitch1">
      <hardwareInterface>PositionJointInterface</hardwareInterface>
    </joint>
    <actuator name="leftPinkyPitch1Actuator">
      <node name="/left_arm/forearm_sensors/pinky"/>
      <mechanicalReduction>1</mechanicalReduction>
      <api name="robot_hardware_interface/TurbodriverFingerProx"/>
    </actuator>
  </transmission>
  <transmission name="leftPinkyPitch2Transmission">
    <type>transmission_interface/SimpleTransmission</type>
    <joint name="leftPinkyPitch2">
      <hardwareInterface>PositionJointInterface</hardwareInterface>
    </joint>
    <actuator name="leftPinkyPitch2Actuator">
      <node name="/left_arm/forearm_sensors/pinky"/>
      <mechanicalReduction>1</mechanicalReduction>
      <api name="robot_hardware_interface/TurbodriverFingerMed"/>
    </actuator>
  </transmission>
  <transmission name="leftPinkyPitch3Transmission">
    <type>transmission_interface/SimpleTransmission</type>
    <joint name="leftPinkyPitch3">
      <hardwareInterface>PositionJointInterface</hardwareInterface>
    </joint>
    <actuator name="leftPinkyPitch3Actuator">
      <node name="/left_arm/forearm_sensors/pinky"/>
      <mechanicalReduction>1</mechanicalReduction>
      <api name="robot_hardware_interface/TurbodriverFingerDis"/>
    </actuator>
  </transmission>
  <transmission name="leftThumbRollTransmission">
    <type>transmission_interface/SimpleTransmission</type>
    <joint name="leftThumbRoll">
      <hardwareInterface>PositionJointInterface</hardwareInterface>
    </joint>
    <actuator name="leftThumbRollActuator">
      <node name="/left_arm/forearm_sensors/thumb"/>
      <mechanicalReduction>1</mechanicalReduction>
      <api name="robot_hardware_interface/TurbodriverFingerRoll"/>
    </actuator>
  </transmission>
  <transmission name="leftThumbPitch1Transmission">
    <type>transmission_interface/SimpleTransmission</type>
    <joint name="leftThumbPitch1">
      <hardwareInterface>PositionJointInterface</hardwareInterface>
    </joint>
    <actuator name="leftThumbPitch1Actuator">
      <node name="/left_arm/forearm_sensors/thumb"/>
      <mechanicalReduction>1</mechanicalReduction>
      <api name="robot_hardware_interface/TurbodriverFingerProx"/>
    </actuator>
  </transmission>
  <transmission name="leftThumbPitch2Transmission">
    <type>transmission_interface/SimpleTransmission</type>
    <joint name="leftThumbPitch2">
      <hardwareInterface>PositionJointInterface</hardwareInterface>
    </joint>
    <actuator name="leftThumbPitch2Actuator">
      <node name="/left_arm/forearm_sensors/thumb"/>
      <mechanicalReduction>1</mechanicalReduction>
      <api name="robot_hardware_interface/TurbodriverFingerMed"/>
    </actuator>
  </transmission>
  <transmission name="leftThumbPitch3Transmission">
    <type>transmission_interface/SimpleTransmission</type>
    <joint name="leftThumbPitch3">
      <hardwareInterface>PositionJointInterface</hardwareInterface>
    </joint>
    <actuator name="leftThumbPitch3Actuator">
      <node name="/left_arm/forearm_sensors/thumb"/>
      <mechanicalReduction>1</mechanicalReduction>
      <api name="robot_hardware_interface/TurbodriverFingerDis"/>
    </actuator>
  </transmission>
</robot>
